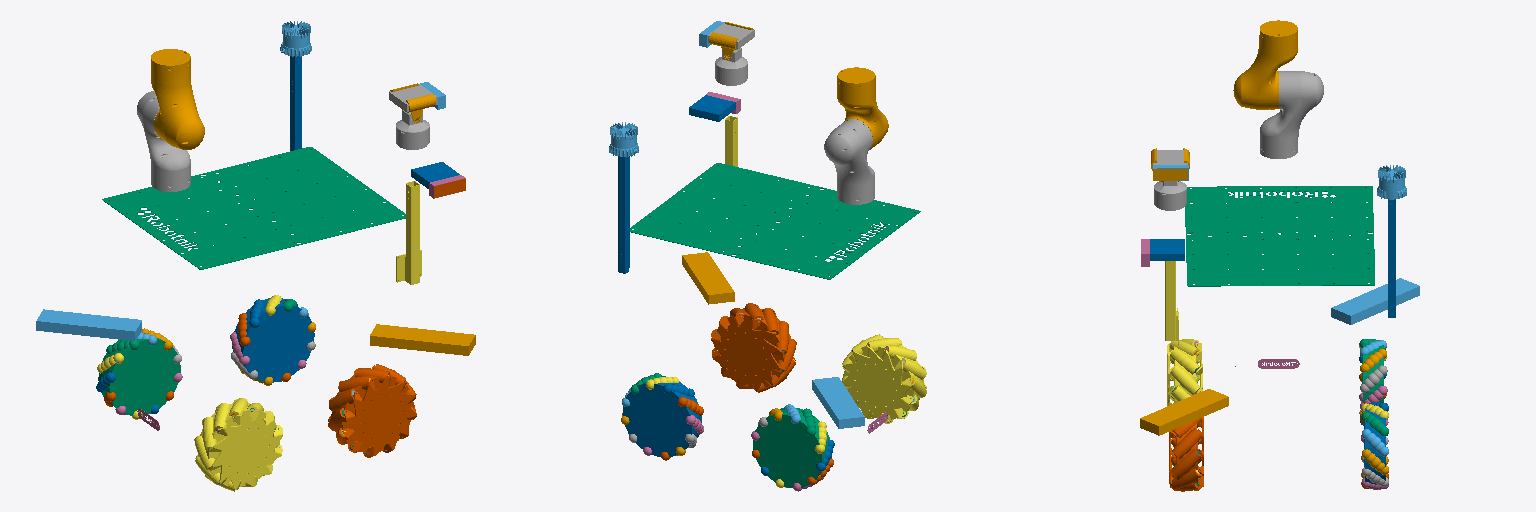
--- What the picture shows (computed from the rendered views, not written in the file) ---
The picture shows the robot from 3 angles, left to right: view 1: azimuth 30°, elevation 25°; view 2: azimuth 150°, elevation 25°; view 3: azimuth 270°, elevation 25°; orthographic projection.
Robot: rbkairos — 110 links, 109 joints (9 revolute, 52 continuous, 2 prismatic, 46 fixed); root link base_footprint; default pose: joints at zero except 1 at the middle of their limits (panda_joint4 = -1.57).
Visible links, largest first — view 1: robot_base_chapa, summit_xl_front_right_wheel_link, summit_xl_back_right_wheel_link, panda_link2, summit_xl_front_left_wheel_link, summit_xl_back_left_wheel_link, panda_link1, robot_front_laser_base_link, robot_rear_laser_base_link, robot_front_right_pole_link, robot_front_left_pole_sup_link, robot_pantilt_pan_link (+4 smaller); view 2: robot_base_chapa, summit_xl_front_right_wheel_link, summit_xl_back_right_wheel_link, summit_xl_back_left_wheel_link, summit_xl_front_left_wheel_link, panda_link1, panda_link2, robot_rear_laser_base_link, robot_front_laser_base_link, robot_front_left_pole_sup_link, robot_pantilt_pan_link, rbkairos_os1_mesh (+2 smaller); view 3: robot_base_chapa, panda_link2, panda_link1, summit_xl_front_right_wheel_link, robot_front_laser_base_link, summit_xl_back_right_wheel_link, robot_rear_laser_base_link, robot_front_right_pole_link, robot_front_left_pole_sup_link, robot_pantilt_pan_link, rbkairos_os1_mesh, robot_top_right_rgbd_camera_1_camera_body.
Link boxes in pixels (x1=…): robot_base_chapa: x1=102, y1=147, x2=405, y2=269; summit_xl_front_right_wheel_link: x1=328, y1=364, x2=416, y2=457; summit_xl_back_right_wheel_link: x1=194, y1=398, x2=282, y2=491; panda_link2: x1=151, y1=49, x2=204, y2=149; summit_xl_front_left_wheel_link: x1=232, y1=298, x2=314, y2=382; summit_xl_back_left_wheel_link: x1=98, y1=333, x2=180, y2=415; panda_link1: x1=137, y1=91, x2=190, y2=191; robot_front_laser_base_link: x1=370, y1=324, x2=475, y2=355; robot_rear_laser_base_link: x1=36, y1=309, x2=141, y2=340; robot_front_right_pole_link: x1=396, y1=181, x2=421, y2=284; robot_front_left_pole_sup_link: x1=290, y1=56, x2=301, y2=150; robot_pantilt_pan_link: x1=396, y1=110, x2=429, y2=149; robot_base_chapa: x1=630, y1=163, x2=920, y2=279; summit_xl_front_right_wheel_link: x1=711, y1=303, x2=796, y2=392; summit_xl_back_right_wheel_link: x1=842, y1=334, x2=926, y2=423; summit_xl_back_left_wheel_link: x1=753, y1=407, x2=831, y2=487; summit_xl_front_left_wheel_link: x1=623, y1=376, x2=701, y2=456; panda_link1: x1=824, y1=119, x2=874, y2=204; panda_link2: x1=837, y1=67, x2=888, y2=149; robot_rear_laser_base_link: x1=812, y1=377, x2=864, y2=428; robot_front_laser_base_link: x1=682, y1=252, x2=734, y2=304; robot_front_left_pole_sup_link: x1=618, y1=156, x2=629, y2=273; robot_pantilt_pan_link: x1=715, y1=48, x2=747, y2=85; rbkairos_os1_mesh: x1=609, y1=122, x2=638, y2=156; robot_base_chapa: x1=1185, y1=186, x2=1374, y2=286; panda_link2: x1=1233, y1=20, x2=1297, y2=109; panda_link1: x1=1260, y1=71, x2=1323, y2=158; summit_xl_front_right_wheel_link: x1=1169, y1=417, x2=1203, y2=491; robot_front_laser_base_link: x1=1140, y1=389, x2=1228, y2=435; summit_xl_back_right_wheel_link: x1=1167, y1=339, x2=1202, y2=405; robot_rear_laser_base_link: x1=1331, y1=278, x2=1419, y2=324; robot_front_right_pole_link: x1=1165, y1=261, x2=1178, y2=344; robot_front_left_pole_sup_link: x1=1388, y1=199, x2=1395, y2=317; robot_pantilt_pan_link: x1=1154, y1=181, x2=1186, y2=210; rbkairos_os1_mesh: x1=1377, y1=165, x2=1406, y2=199; robot_top_right_rgbd_camera_1_camera_body: x1=1150, y1=239, x2=1184, y2=260.
Bounding box of the posed robot: 1.01 × 0.8007 × 1.22 m (x, y, z).
11 mesh visuals loaded from 62 distinct referenced files (11 OBJ); not drawn: 51 (reference not matched to a file when rendering).

URDF robot description (rbkairos):
<?xml version="1.0" encoding="UTF-8"?>
<robot name="rbkairos">
  <joint name="back_left_roller10_joint" type="continuous">
    <origin xyz="0. -0. -0.107" rpy="0.7853982 -1.5707963 0. "/>
    <parent link="summit_xl_back_left_wheel_link"/>
    <child link="back_left_roller10_link"/>
    <axis xyz="0. 0. 1."/>
  </joint>
  <joint name="back_left_roller11_joint" type="continuous">
    <origin xyz="0.0535 -0. -0.0926647" rpy="-0.0439603 1.2045692 0.8038372"/>
    <parent link="summit_xl_back_left_wheel_link"/>
    <child link="back_left_roller11_link"/>
    <axis xyz="0. 0. 1."/>
  </joint>
  <joint name="back_left_roller12_joint" type="continuous">
    <origin xyz="0.0926647 -0. -0.0535 " rpy="-0.5359965 0.7778994 0.3978639"/>
    <parent link="summit_xl_back_left_wheel_link"/>
    <child link="back_left_roller12_link"/>
    <axis xyz="0. 0. 1."/>
  </joint>
  <joint name="back_left_roller1_joint" type="continuous">
    <origin xyz="0.107 -0. 0. " rpy="-0.7853984 0. 0. "/>
    <parent link="summit_xl_back_left_wheel_link"/>
    <child link="back_left_roller1_link"/>
    <axis xyz="0. 0. 1."/>
  </joint>
  <joint name="back_left_roller2_joint" type="continuous">
    <origin xyz="0.0926647 -0. 0.0535 " rpy="-0.5359965 -0.7778994 -0.3978639"/>
    <parent link="summit_xl_back_left_wheel_link"/>
    <child link="back_left_roller2_link"/>
    <axis xyz="0. 0. 1."/>
  </joint>
  <joint name="back_left_roller3_joint" type="continuous">
    <origin xyz="0.0535 -0. 0.0926647" rpy="-0.0439603 -1.2045692 -0.8038372"/>
    <parent link="summit_xl_back_left_wheel_link"/>
    <child link="back_left_roller3_link"/>
    <axis xyz="0. 0. 1."/>
  </joint>
  <joint name="back_left_roller4_joint" type="continuous">
    <origin xyz="0. -0. 0.107" rpy="-0.7853982 -1.5707963 0. "/>
    <parent link="summit_xl_back_left_wheel_link"/>
    <child link="back_left_roller4_link"/>
    <axis xyz="0. 0. 1."/>
  </joint>
  <joint name="back_left_roller5_joint" type="continuous">
    <origin xyz="-0.0535 -0. 0.0926647" rpy="0.0275167 1.1863147 -0.8346186"/>
    <parent link="summit_xl_back_left_wheel_link"/>
    <child link="back_left_roller5_link"/>
    <axis xyz="0. 0. 1."/>
  </joint>
  <joint name="back_left_roller6_joint" type="continuous">
    <origin xyz="-0.0926647 -0. 0.0535 " rpy="0.5052382 0.7423047 -0.4450063"/>
    <parent link="summit_xl_back_left_wheel_link"/>
    <child link="back_left_roller6_link"/>
    <axis xyz="0. 0. 1."/>
  </joint>
  <joint name="back_left_roller7_joint" type="continuous">
    <origin xyz="-0.107 -0. 0. " rpy="0.7853984 0. 0. "/>
    <parent link="summit_xl_back_left_wheel_link"/>
    <child link="back_left_roller7_link"/>
    <axis xyz="0. 0. 1."/>
  </joint>
  <joint name="back_left_roller8_joint" type="continuous">
    <origin xyz="-0.0926647 -0. -0.0535 " rpy="0.523674 -0.7990885 0.3802593"/>
    <parent link="summit_xl_back_left_wheel_link"/>
    <child link="back_left_roller8_link"/>
    <axis xyz="0. 0. 1."/>
  </joint>
  <joint name="back_left_roller9_joint" type="continuous">
    <origin xyz="-0.0535 -0. -0.0926647" rpy="0.0789182 -1.2169379 0.7711197"/>
    <parent link="summit_xl_back_left_wheel_link"/>
    <child link="back_left_roller9_link"/>
    <axis xyz="0. 0. 1."/>
  </joint>
  <joint name="back_right_roller10_joint" type="continuous">
    <origin xyz="0. 0. -0.107" rpy="-0.7853982 -1.5707963 0. "/>
    <parent link="summit_xl_back_right_wheel_link"/>
    <child link="back_right_roller10_link"/>
    <axis xyz="0. 0. 1."/>
  </joint>
  <joint name="back_right_roller11_joint" type="continuous">
    <origin xyz="0.0535 0. -0.0926647" rpy="0.0112194 1.1918175 -0.8343325"/>
    <parent link="summit_xl_back_right_wheel_link"/>
    <child link="back_right_roller11_link"/>
    <axis xyz="0. 0. 1."/>
  </joint>
  <joint name="back_right_roller12_joint" type="continuous">
    <origin xyz="0.0926647 0. -0.0535 " rpy="0.5422567 0.7673631 -0.4066663"/>
    <parent link="summit_xl_back_right_wheel_link"/>
    <child link="back_right_roller12_link"/>
    <axis xyz="0. 0. 1."/>
  </joint>
  <joint name="back_right_roller1_joint" type="continuous">
    <origin xyz="0.107 0. 0. " rpy="0.7853984 0. 0. "/>
    <parent link="summit_xl_back_right_wheel_link"/>
    <child link="back_right_roller1_link"/>
    <axis xyz="0. 0. 1."/>
  </joint>
  <joint name="back_right_roller2_joint" type="continuous">
    <origin xyz="0.0926647 0. 0.0535 " rpy="0.5422567 -0.7673631 0.4066663"/>
    <parent link="summit_xl_back_right_wheel_link"/>
    <child link="back_right_roller2_link"/>
    <axis xyz="0. 0. 1."/>
  </joint>
  <joint name="back_right_roller3_joint" type="continuous">
    <origin xyz="0.0535 0. 0.0926647" rpy="0.0789182 -1.2169379 0.7711197"/>
    <parent link="summit_xl_back_right_wheel_link"/>
    <child link="back_right_roller3_link"/>
    <axis xyz="0. 0. 1."/>
  </joint>
  <joint name="back_right_roller4_joint" type="continuous">
    <origin xyz="0. 0. 0.107" rpy="0.7853982 -1.5707963 0. "/>
    <parent link="summit_xl_back_right_wheel_link"/>
    <child link="back_right_roller4_link"/>
    <axis xyz="0. 0. 1."/>
  </joint>
  <joint name="back_right_roller5_joint" type="continuous">
    <origin xyz="-0.0535 0. 0.0926647" rpy="0.0027539 1.1732169 0.8626051"/>
    <parent link="summit_xl_back_right_wheel_link"/>
    <child link="back_right_roller5_link"/>
    <axis xyz="0. 0. 1."/>
  </joint>
  <joint name="back_right_roller6_joint" type="continuous">
    <origin xyz="-0.0926647 0. 0.0535 " rpy="-0.5422567 0.7673631 0.4066663"/>
    <parent link="summit_xl_back_right_wheel_link"/>
    <child link="back_right_roller6_link"/>
    <axis xyz="0. 0. 1."/>
  </joint>
  <joint name="back_right_roller7_joint" type="continuous">
    <origin xyz="-0.107 0. 0. " rpy="-0.7853984 0. 0. "/>
    <parent link="summit_xl_back_right_wheel_link"/>
    <child link="back_right_roller7_link"/>
    <axis xyz="0. 0. 1."/>
  </joint>
  <joint name="back_right_roller8_joint" type="continuous">
    <origin xyz="-0.0926647 0. -0.0535 " rpy="-0.5422567 -0.7673631 -0.4066663"/>
    <parent link="summit_xl_back_right_wheel_link"/>
    <child link="back_right_roller8_link"/>
    <axis xyz="0. 0. 1."/>
  </joint>
  <joint name="back_right_roller9_joint" type="continuous">
    <origin xyz="-0.0535 0. -0.0926647" rpy="-0.0439603 -1.2045692 -0.8038372"/>
    <parent link="summit_xl_back_right_wheel_link"/>
    <child link="back_right_roller9_link"/>
    <axis xyz="0. 0. 1."/>
  </joint>
  <joint name="front_left_roller10_joint" type="continuous">
    <origin xyz="-0. -0. -0.107" rpy="-0.7853982 -1.5707963 0. "/>
    <parent link="summit_xl_front_left_wheel_link"/>
    <child link="front_left_roller10_link"/>
    <axis xyz="0. 0. 1."/>
  </joint>
  <joint name="front_left_roller11_joint" type="continuous">
    <origin xyz="0.0535 -0. -0.0926647" rpy="0.0597851 1.1990727 -0.8046284"/>
    <parent link="summit_xl_front_left_wheel_link"/>
    <child link="front_left_roller11_link"/>
    <axis xyz="0. 0. 1."/>
  </joint>
  <joint name="front_left_roller12_joint" type="continuous">
    <origin xyz="0.0926647 -0. -0.0535 " rpy="0.5201338 0.7603366 -0.4219694"/>
    <parent link="summit_xl_front_left_wheel_link"/>
    <child link="front_left_roller12_link"/>
    <axis xyz="0. 0. 1."/>
  </joint>
  <joint name="front_left_roller1_joint" type="continuous">
    <origin xyz="0.107 -0. 0. " rpy="0.7853984 0. 0. "/>
    <parent link="summit_xl_front_left_wheel_link"/>
    <child link="front_left_roller1_link"/>
    <axis xyz="0. 0. 1."/>
  </joint>
  <joint name="front_left_roller2_joint" type="continuous">
    <origin xyz="0.0926647 -0. 0.0535 " rpy="0.5359965 -0.7778994 0.3978639"/>
    <parent link="summit_xl_front_left_wheel_link"/>
    <child link="front_left_roller2_link"/>
    <axis xyz="0. 0. 1."/>
  </joint>
  <joint name="front_left_roller3_joint" type="continuous">
    <origin xyz="0.0535 -0. 0.0926647" rpy="0.0439603 -1.2045692 0.8038372"/>
    <parent link="summit_xl_front_left_wheel_link"/>
    <child link="front_left_roller3_link"/>
    <axis xyz="0. 0. 1."/>
  </joint>
  <joint name="front_left_roller4_joint" type="continuous">
    <origin xyz="-0. -0. 0.107" rpy="0.7853982 -1.5707963 0. "/>
    <parent link="summit_xl_front_left_wheel_link"/>
    <child link="front_left_roller4_link"/>
    <axis xyz="0. 0. 1."/>
  </joint>
  <joint name="front_left_roller5_joint" type="continuous">
    <origin xyz="-0.0535 -0. 0.0926647" rpy="-0.0439603 1.2045692 0.8038372"/>
    <parent link="summit_xl_front_left_wheel_link"/>
    <child link="front_left_roller5_link"/>
    <axis xyz="0. 0. 1."/>
  </joint>
  <joint name="front_left_roller6_joint" type="continuous">
    <origin xyz="-0.0926647 -0. 0.0535 " rpy="-0.5359965 0.7778994 0.3978639"/>
    <parent link="summit_xl_front_left_wheel_link"/>
    <child link="front_left_roller6_link"/>
    <axis xyz="0. 0. 1."/>
  </joint>
  <joint name="front_left_roller7_joint" type="continuous">
    <origin xyz="-0.107 -0. 0. " rpy="-0.7853984 0. 0. "/>
    <parent link="summit_xl_front_left_wheel_link"/>
    <child link="front_left_roller7_link"/>
    <axis xyz="0. 0. 1."/>
  </joint>
  <joint name="front_left_roller8_joint" type="continuous">
    <origin xyz="-0.0926647 -0. -0.0535 " rpy="-0.5359965 -0.7778994 -0.3978639"/>
    <parent link="summit_xl_front_left_wheel_link"/>
    <child link="front_left_roller8_link"/>
    <axis xyz="0. 0. 1."/>
  </joint>
  <joint name="front_left_roller9_joint" type="continuous">
    <origin xyz="-0.0535 -0. -0.0926647" rpy="-0.0439603 -1.2045692 -0.8038372"/>
    <parent link="summit_xl_front_left_wheel_link"/>
    <child link="front_left_roller9_link"/>
    <axis xyz="0. 0. 1."/>
  </joint>
  <joint name="front_right_roller10_joint" type="continuous">
    <origin xyz="-0. 0. -0.107" rpy="0.7853982 -1.5707963 0. "/>
    <parent link="summit_xl_front_right_wheel_link"/>
    <child link="front_right_roller10_link"/>
    <axis xyz="0. 0. 1."/>
  </joint>
  <joint name="front_right_roller11_joint" type="continuous">
    <origin xyz="0.0535 0. -0.0926647" rpy="-0.0597851 1.1990727 0.8046284"/>
    <parent link="summit_xl_front_right_wheel_link"/>
    <child link="front_right_roller11_link"/>
    <axis xyz="0. 0. 1."/>
  </joint>
  <joint name="front_right_roller12_joint" type="continuous">
    <origin xyz="0.0926647 0. -0.0535 " rpy="-0.5359965 0.7778994 0.3978639"/>
    <parent link="summit_xl_front_right_wheel_link"/>
    <child link="front_right_roller12_link"/>
    <axis xyz="0. 0. 1."/>
  </joint>
  <joint name="front_right_roller1_joint" type="continuous">
    <origin xyz="0.107 0. 0. " rpy="-0.7853984 0. 0. "/>
    <parent link="summit_xl_front_right_wheel_link"/>
    <child link="front_right_roller1_link"/>
    <axis xyz="0. 0. 1."/>
  </joint>
  <joint name="front_right_roller2_joint" type="continuous">
    <origin xyz="0.0926647 0. 0.0535 " rpy="-0.5359965 -0.7778994 -0.3978639"/>
    <parent link="summit_xl_front_right_wheel_link"/>
    <child link="front_right_roller2_link"/>
    <axis xyz="0. 0. 1."/>
  </joint>
  <joint name="front_right_roller3_joint" type="continuous">
    <origin xyz="0.0535 0. 0.0926647" rpy="-0.0439603 -1.2045692 -0.8038372"/>
    <parent link="summit_xl_front_right_wheel_link"/>
    <child link="front_right_roller3_link"/>
    <axis xyz="0. 0. 1."/>
  </joint>
  <joint name="front_right_roller4_joint" type="continuous">
    <origin xyz="-0. 0. 0.107" rpy="-0.7853982 -1.5707963 0. "/>
    <parent link="summit_xl_front_right_wheel_link"/>
    <child link="front_right_roller4_link"/>
    <axis xyz="0. 0. 1."/>
  </joint>
  <joint name="front_right_roller5_joint" type="continuous">
    <origin xyz="-0.0535 0. 0.0926647" rpy="0.0439603 1.2045692 -0.8038372"/>
    <parent link="summit_xl_front_right_wheel_link"/>
    <child link="front_right_roller5_link"/>
    <axis xyz="0. 0. 1."/>
  </joint>
  <joint name="front_right_roller6_joint" type="continuous">
    <origin xyz="-0.0926647 0. 0.0535 " rpy="0.5359965 0.7778994 -0.3978639"/>
    <parent link="summit_xl_front_right_wheel_link"/>
    <child link="front_right_roller6_link"/>
    <axis xyz="0. 0. 1."/>
  </joint>
  <joint name="front_right_roller7_joint" type="continuous">
    <origin xyz="-0.107 0. 0. " rpy="0.7853984 0. 0. "/>
    <parent link="summit_xl_front_right_wheel_link"/>
    <child link="front_right_roller7_link"/>
    <axis xyz="0. 0. 1."/>
  </joint>
  <joint name="front_right_roller8_joint" type="continuous">
    <origin xyz="-0.0926647 0. -0.0535 " rpy="0.5359965 -0.7778994 0.3978639"/>
    <parent link="summit_xl_front_right_wheel_link"/>
    <child link="front_right_roller8_link"/>
    <axis xyz="0. 0. 1."/>
  </joint>
  <joint name="front_right_roller9_joint" type="continuous">
    <origin xyz="-0.0535 0. -0.0926647" rpy="0.0439603 -1.2045692 0.8038372"/>
    <parent link="summit_xl_front_right_wheel_link"/>
    <child link="front_right_roller9_link"/>
    <axis xyz="0. 0. 1."/>
  </joint>
  <joint name="joint_franka_panda_hand-Hand_Camera" type="fixed">
    <origin xyz="0.05 0. 0.0499999" rpy="-3.1415927 0. 1.5707964"/>
    <parent link="franka_panda_hand"/>
    <child link="Hand_Camera"/>
  </joint>
  <joint name="joint_rbkairos_os1_mesh-OS1" type="fixed">
    <origin xyz="0. 0. 0." rpy="0. 0. 0."/>
    <parent link="rbkairos_os1_mesh"/>
    <child link="OS1"/>
  </joint>
  <joint name="joint_robot_front_rgbd_camera_link-Main_Camera" type="fixed">
    <origin xyz="0.015 -0.0175 0. " rpy="1.5707964 0. -1.5707964"/>
    <parent link="robot_front_rgbd_camera_link"/>
    <child link="Main_Camera"/>
  </joint>
  <joint name="os1_joint" type="fixed">
    <origin xyz="0.0000034 0. 0.4133 " rpy="0. 0. 0.0031644"/>
    <parent link="robot_front_left_pole_sup_link"/>
    <child link="rbkairos_os1_mesh"/>
  </joint>
  <joint name="panda_finger_joint1" type="prismatic">
    <origin xyz="0. 0. 0.0584" rpy="0. 0. 1.5707964"/>
    <parent link="franka_panda_hand"/>
    <child link="panda_leftfinger"/>
    <axis xyz="1. 0. 0."/>
    <limit lower="0." upper="0.04" effort="720." velocity="10."/>
  </joint>
  <joint name="panda_finger_joint2" type="prismatic">
    <origin xyz="0. 0. 0.0584" rpy="0. 0. -1.5707963"/>
    <parent link="franka_panda_hand"/>
    <child link="panda_rightfinger"/>
    <axis xyz="1. 0. 0."/>
    <limit lower="0." upper="0.04" effort="720." velocity="10."/>
  </joint>
  <joint name="panda_hand_joint" type="fixed">
    <origin xyz="0. 0. 0." rpy="1.5707964 -0.7853981 -1.5707964"/>
    <parent link="panda_link8"/>
    <child link="franka_panda_hand"/>
  </joint>
  <joint name="panda_joint1" type="revolute">
    <origin xyz="-0. -0. 0.3329999" rpy="0. -1.5707961 0.0015925"/>
    <parent link="panda_link0"/>
    <child link="panda_link1"/>
    <axis xyz="1. 0. 0."/>
    <limit lower="-2.8973001" upper="2.8973001" effort="5220." velocity="10.0000005"/>
  </joint>
  <joint name="panda_joint2" type="revolute">
    <origin xyz="-0. -0. -0." rpy="-0.0000002 0. 1.5707964"/>
    <parent link="panda_link1"/>
    <child link="panda_link2"/>
    <axis xyz="1. 0. 0."/>
    <limit lower="-1.7628" upper="1.7628" effort="5220." velocity="10.0000005"/>
  </joint>
  <joint name="panda_joint3" type="revolute">
    <origin xyz="0.0000001 -0.316 0. " rpy="0. -0. -1.570796"/>
    <parent link="panda_link2"/>
    <child link="panda_link3"/>
    <axis xyz="1. 0. 0."/>
    <limit lower="-2.8973001" upper="2.8973001" effort="5220." velocity="10.0000005"/>
  </joint>
  <joint name="panda_joint4" type="revolute">
    <origin xyz="0. 0. -0.0825" rpy="0. 0. -1.5707964"/>
    <parent link="panda_link3"/>
    <child link="panda_link4"/>
    <axis xyz="1. 0. 0."/>
    <limit lower="-3.0718" upper="-0.0698" effort="5220." velocity="10.0000005"/>
  </joint>
  <joint name="panda_joint5" type="revolute">
    <origin xyz="0. 0.3839999 0.0824999" rpy="0. 0. 1.5707964"/>
    <parent link="panda_link4"/>
    <child link="panda_link5"/>
    <axis xyz="1. 0. 0."/>
    <limit lower="-2.8973001" upper="2.8973001" effort="720." velocity="10.0000005"/>
  </joint>
  <joint name="panda_joint6" type="revolute">
    <origin xyz="0. 0. 0." rpy="0. 0. -1.5707964"/>
    <parent link="panda_link5"/>
    <child link="panda_link6"/>
    <axis xyz="1. 0. 0."/>
    <limit lower="-0.0175" upper="3.7525" effort="720." velocity="10.0000005"/>
  </joint>
  <joint name="panda_joint7" type="revolute">
    <origin xyz="0. -0. -0.0879999" rpy="0. 0. -1.5707964"/>
    <parent link="panda_link6"/>
    <child link="panda_link7"/>
    <axis xyz="1. 0. 0."/>
    <limit lower="-2.8973001" upper="2.8973001" effort="720." velocity="10.0000005"/>
  </joint>
  <joint name="panda_joint8" type="fixed">
    <origin xyz="0.1069998 0. -0.0000001" rpy="3.1415925 0. -3.1415923"/>
    <parent link="panda_link7"/>
    <child link="panda_link8"/>
  </joint>
  <joint name="robot_arm_joint" type="fixed">
    <origin xyz="-0.273 0. 0.56212" rpy="0. 0. 3.14"/>
    <parent link="base_link"/>
    <child link="panda_link0"/>
  </joint>
  <joint name="robot_back_left_wheel_joint" type="continuous">
    <origin xyz="-0.21528 0.269 -0. " rpy="0. 0. 0."/>
    <parent link="base_link"/>
    <child link="summit_xl_back_left_wheel_link"/>
    <axis xyz="0. 1. 0."/>
  </joint>
  <joint name="robot_back_right_wheel_joint" type="continuous">
    <origin xyz="-0.21528 -0.269 -0. " rpy="0. 0. 0."/>
    <parent link="base_link"/>
    <child link="summit_xl_back_right_wheel_link"/>
    <axis xyz="0. 1. 0."/>
  </joint>
  <joint name="robot_base_docking_joint" type="fixed">
    <origin xyz="0.35 0. 0.09" rpy="0. 0. 0."/>
    <parent link="base_link"/>
    <child link="robot_base_docking_contact"/>
  </joint>
  <joint name="robot_base_footprint_joint" type="fixed">
    <origin xyz="0.0103077 -0.0236575 0.1250255" rpy="0.0003379 -0.0016197 0.011564 "/>
    <parent link="base_footprint"/>
    <child link="base_link"/>
  </joint>
  <joint name="robot_base_logo_front_joint" type="fixed">
    <origin xyz="0.345 0. 0. " rpy="0. 0. -1.5707964"/>
    <parent link="base_link"/>
    <child link="robot_base_logo_front"/>
  </joint>
  <joint name="robot_base_logo_left_joint" type="fixed">
    <origin xyz="0. 0.2894 0.35562" rpy="0. 0. 0."/>
    <parent link="base_link"/>
    <child link="robot_base_logo_left"/>
  </joint>
  <joint name="robot_base_logo_rear_joint" type="fixed">
    <origin xyz="-0.345 0. 0. " rpy="0. 0. 1.5707964"/>
    <parent link="base_link"/>
    <child link="robot_base_logo_rear"/>
  </joint>
  <joint name="robot_base_logo_right_joint" type="fixed">
    <origin xyz="0. -0.28931 0.35562" rpy="0. 0. -3.1415925"/>
    <parent link="base_link"/>
    <child link="robot_base_logo_right"/>
  </joint>
  <joint name="robot_base_tapa_joint" type="fixed">
    <origin xyz="0. 0. 0.56162" rpy="0. 0. 0."/>
    <parent link="base_link"/>
    <child link="robot_base_chapa"/>
  </joint>
  <joint name="robot_front_laser_base_joint" type="fixed">
    <origin xyz="0.42101 -0.32716 0.16687" rpy="-3.1415927 0.0000001 -0.7853982"/>
    <parent link="base_link"/>
    <child link="robot_front_laser_base_link"/>
  </joint>
  <joint name="robot_front_laser_body_joint" type="fixed">
    <origin xyz="0.051 0. 0. " rpy="0. 0. 0."/>
    <parent link="robot_front_laser_base_link"/>
    <child link="robot_front_laser_body_link"/>
  </joint>
  <joint name="robot_front_laser_scan_joint" type="fixed">
    <origin xyz="0. -0.0015 0.1237" rpy="-3.1415925 0. 0. "/>
    <parent link="robot_front_laser_body_link"/>
    <child link="robot_front_laser_link"/>
  </joint>
  <joint name="robot_front_left_pole_joint" type="fixed">
    <origin xyz="0.31775 0.2933 0.42762" rpy="0. 0. 3.14"/>
    <parent link="base_link"/>
    <child link="robot_front_left_pole_link"/>
  </joint>
  <joint name="robot_front_left_pole_sup_joint" type="fixed">
    <origin xyz="0. -0.023 0. " rpy="0. 0. 3.14"/>
    <parent link="robot_front_left_pole_link"/>
    <child link="robot_front_left_pole_sup_link"/>
  </joint>
  <joint name="robot_front_left_rgb_camera_1_joint" type="fixed">
    <origin xyz="0. 0.027 0.315" rpy="0. 0. 0."/>
    <parent link="robot_front_left_pole_sup_link"/>
    <child link="robot_front_left_rgb_camera_1_link"/>
  </joint>
  <joint name="robot_front_left_rgb_camera_1_optical_joint" type="fixed">
    <origin xyz="0.07 0. 0. " rpy="0. 0. 0."/>
    <parent link="robot_front_left_rgb_camera_1_link"/>
    <child link="robot_front_left_rgb_camera_1_optical_frame"/>
  </joint>
  <joint name="robot_front_left_rgb_camera_2_joint" type="fixed">
    <origin xyz="0. -0.02706 0.315 " rpy="0. 0. 3.14"/>
    <parent link="robot_front_left_pole_sup_link"/>
    <child link="robot_front_left_rgb_camera_2_link"/>
  </joint>
  <joint name="robot_front_left_rgb_camera_2_optical_joint" type="fixed">
    <origin xyz="0.07 0. 0. " rpy="0. 0. 0."/>
    <parent link="robot_front_left_rgb_camera_2_link"/>
    <child link="robot_front_left_rgb_camera_2_optical_frame"/>
  </joint>
  <joint name="robot_front_left_wheel_joint" type="continuous">
    <origin xyz="0.21528 0.269 -0. " rpy="0. 0. 0."/>
    <parent link="base_link"/>
    <child link="summit_xl_front_left_wheel_link"/>
    <axis xyz="0. 1. 0."/>
  </joint>
  <joint name="robot_front_rgbd_camera_base_joint" type="fixed">
    <origin xyz="0.3585 0. 0.25062" rpy="0. 0. 0."/>
    <parent link="base_link"/>
    <child link="robot_front_rgbd_camera_base_link"/>
  </joint>
  <joint name="robot_front_rgbd_camera_color_joint" type="fixed">
    <origin xyz="0. 0.015 0. " rpy="0. 0. 0."/>
    <parent link="robot_front_rgbd_camera_link"/>
    <child link="robot_front_rgbd_camera_color_frame"/>
  </joint>
  <joint name="robot_front_rgbd_camera_color_optical_joint" type="fixed">
    <origin xyz="0. 0. 0." rpy="-1.5707964 0. -1.5707964"/>
    <parent link="robot_front_rgbd_camera_color_frame"/>
    <child link="robot_front_rgbd_camera_color_optical_frame"/>
  </joint>
  <joint name="robot_front_rgbd_camera_depth_joint" type="fixed">
    <origin xyz="0. 0. 0." rpy="0. 0. 0."/>
    <parent link="robot_front_rgbd_camera_link"/>
    <child link="robot_front_rgbd_camera_depth_frame"/>
  </joint>
  <joint name="robot_front_rgbd_camera_depth_optical_joint" type="fixed">
    <origin xyz="0. 0. 0." rpy="-1.5707964 0. -1.5707964"/>
    <parent link="robot_front_rgbd_camera_depth_frame"/>
    <child link="robot_front_rgbd_camera_depth_optical_frame"/>
  </joint>
  <joint name="robot_front_rgbd_camera_infra1_joint" type="fixed">
    <origin xyz="0. 0. 0." rpy="0. 0. 0."/>
    <parent link="robot_front_rgbd_camera_link"/>
    <child link="robot_front_rgbd_camera_infra1_frame"/>
  </joint>
  <joint name="robot_front_rgbd_camera_infra1_optical_joint" type="fixed">
    <origin xyz="0. 0. 0." rpy="-1.5707964 0. -1.5707964"/>
    <parent link="robot_front_rgbd_camera_infra1_frame"/>
    <child link="robot_front_rgbd_camera_infra1_optical_frame"/>
  </joint>
  <joint name="robot_front_rgbd_camera_infra2_joint" type="fixed">
    <origin xyz="0. -0.05 0. " rpy="0. 0. 0."/>
    <parent link="robot_front_rgbd_camera_link"/>
    <child link="robot_front_rgbd_camera_infra2_frame"/>
  </joint>
  <joint name="robot_front_rgbd_camera_infra2_optical_joint" type="fixed">
    <origin xyz="0. 0. 0." rpy="-1.5707964 0. -1.5707964"/>
    <parent link="robot_front_rgbd_camera_infra2_frame"/>
    <child link="robot_front_rgbd_camera_infra2_optical_frame"/>
  </joint>
  <joint name="robot_front_rgbd_camera_joint" type="fixed">
    <origin xyz="0.01 0.02 0. " rpy="0. 0. 0."/>
    <parent link="robot_front_rgbd_camera_base_link"/>
    <child link="robot_front_rgbd_camera_link"/>
  </joint>
  <joint name="robot_front_right_pole_joint" type="fixed">
    <origin xyz="0.31775 -0.2933 0.42762" rpy="0. 0. 0."/>
    <parent link="base_link"/>
    <child link="robot_front_right_pole_link"/>
  </joint>
  <joint name="robot_front_right_pole_sup_joint" type="fixed">
    <origin xyz="0. -0.023 0. " rpy="0. 0. 3.14"/>
    <parent link="robot_front_right_pole_link"/>
    <child link="robot_front_right_pole_sup_link"/>
  </joint>
  <joint name="robot_front_right_wheel_joint" type="continuous">
    <origin xyz="0.21528 -0.269 -0. " rpy="0. 0. 0."/>
    <parent link="base_link"/>
    <child link="summit_xl_front_right_wheel_link"/>
    <axis xyz="0. 1. 0."/>
  </joint>
  <joint name="robot_imu_joint" type="fixed">
    <origin xyz="0.127 -0.129 0.212" rpy="0. 0. 0."/>
    <parent link="base_link"/>
    <child link="robot_imu_link"/>
  </joint>
  <joint name="robot_pantilt_base_joint" type="fixed">
    <origin xyz="0. 0. 0.3833" rpy="0. 0. 3.14159"/>
    <parent link="robot_front_right_pole_sup_link"/>
    <child link="robot_pantilt_base_link"/>
  </joint>
  <joint name="robot_pantilt_pan_joint" type="revolute">
    <origin xyz="0. 0. 0." rpy="0. 0. 0."/>
    <parent link="robot_pantilt_base_link"/>
    <child link="robot_pantilt_pan_link"/>
    <axis xyz="0. 0. 1."/>
    <limit lower="-3.1415927" upper="3.1415927" effort="100." velocity="50.0000015"/>
  </joint>
  <joint name="robot_pantilt_tilt_joint" type="revolute">
    <origin xyz="0. 0. 0.08305" rpy="0. 0. 0."/>
    <parent link="robot_pantilt_pan_link"/>
    <child link="robot_pantilt_tilt_link"/>
    <axis xyz="0. 1. 0."/>
    <limit lower="-1.0471976" upper="1.0471976" effort="100." velocity="5.0000003"/>
  </joint>
  <joint name="robot_rear_laser_base_joint" type="fixed">
    <origin xyz="-0.42101 0.32716 0.16687" rpy="-3.1415927 0.0000001 2.3561945"/>
    <parent link="base_link"/>
    <child link="robot_rear_laser_base_link"/>
  </joint>
  <joint name="robot_rear_laser_body_joint" type="fixed">
    <origin xyz="0.051 0. 0. " rpy="0. 0. 0."/>
    <parent link="robot_rear_laser_base_link"/>
    <child link="robot_rear_laser_body_link"/>
  </joint>
  <joint name="robot_rear_laser_scan_joint" type="fixed">
    <origin xyz="0. -0.0015 0.1237" rpy="-3.1415925 0. 0. "/>
    <parent link="robot_rear_laser_body_link"/>
    <child link="robot_rear_laser_link"/>
  </joint>
  <joint name="robot_top_right_rgbd_camera_1_camera_base_to_body" type="fixed">
    <origin xyz="-0.0757 0. 0.008 " rpy="0. 0. 0."/>
    <parent link="robot_top_right_rgbd_camera_1_link"/>
    <child link="robot_top_right_rgbd_camera_1_camera_body"/>
  </joint>
  <joint name="robot_top_right_rgbd_camera_1_camera_base_to_visor" type="fixed">
    <origin xyz="0. 0. 0." rpy="0. 0. 0."/>
    <parent link="robot_top_right_rgbd_camera_1_link"/>
    <child link="robot_top_right_rgbd_camera_1_camera_visor"/>
  </joint>
  <joint name="robot_top_right_rgbd_camera_1_joint" type="fixed">
    <origin xyz="-0.069 0.085 0.264" rpy="0. 0. 1.57"/>
    <parent link="robot_front_right_pole_sup_link"/>
    <child link="robot_top_right_rgbd_camera_1_link"/>
  </joint>
  <joint name="robot_top_right_rgbd_camera_2_camera_base_to_body" type="fixed">
    <origin xyz="-0.0757 0. 0.008 " rpy="0. 0. 0."/>
    <parent link="robot_top_right_rgbd_camera_2_link"/>
    <child link="robot_top_right_rgbd_camera_2_camera_body"/>
  </joint>
  <joint name="robot_top_right_rgbd_camera_2_camera_base_to_visor" type="fixed">
    <origin xyz="0. 0. 0." rpy="0. 0. 0."/>
    <parent link="robot_top_right_rgbd_camera_2_link"/>
    <child link="robot_top_right_rgbd_camera_2_camera_visor"/>
  </joint>
  <joint name="robot_top_right_rgbd_camera_2_joint" type="fixed">
    <origin xyz="0.0775 0. 0.0475" rpy="0. 0. 0."/>
    <parent link="robot_pantilt_tilt_link"/>
    <child link="robot_top_right_rgbd_camera_2_link"/>
  </joint>
  <link name="Hand_Camera"/>
  <link name="Main_Camera"/>
  <link name="OS1"/>
  <link name="back_left_roller10_link">
    <inertial>
      <origin xyz="0. 0. 0." rpy="0. 0. 0."/>
      <mass value="0.0141372"/>
      <inertia ixx="0." ixy="0." ixz="0." iyy="0." iyz="0." izz="0."/>
    </inertial>
    <visual>
      <origin xyz="-0.00051 0. -0.035 " rpy="0. 0. 0."/>
      <geometry>
        <sphere radius="0.015"/>
      </geometry>
    </visual>
    <visual>
      <origin xyz="-0.00051 0. 0.035 " rpy="0. 0. 0."/>
      <geometry>
        <sphere radius="0.015"/>
      </geometry>
    </visual>
    <visual>
      <origin xyz="0. 0. 0." rpy="0. 0. 0."/>
      <geometry>
        <sphere radius="0.019"/>
      </geometry>
    </visual>
    <visual>
      <origin xyz="0. 0. 0.0175" rpy="0. 0. 0."/>
      <geometry>
        <sphere radius="0.017"/>
      </geometry>
    </visual>
    <visual>
      <origin xyz="0. 0. -0.0175" rpy="0. 0. 0."/>
      <geometry>
        <sphere radius="0.017"/>
      </geometry>
    </visual>
    <collision>
      <origin xyz="-0.00051 0. -0.035 " rpy="0. 0. 0."/>
      <geometry>
        <sphere radius="0.015"/>
      </geometry>
    </collision>
    <collision>
      <origin xyz="-0.00051 0. 0.035 " rpy="0. 0. 0."/>
      <geometry>
        <sphere radius="0.015"/>
      </geometry>
    </collision>
    <collision>
      <origin xyz="0. 0. 0." rpy="0. 0. 0."/>
      <geometry>
        <sphere radius="0.019"/>
      </geometry>
    </collision>
    <collision>
      <origin xyz="0. 0. 0.0175" rpy="0. 0. 0."/>
      <geometry>
        <sphere radius="0.017"/>
      </geometry>
    </collision>
    <collision>
      <origin xyz="0. 0. -0.0175" rpy="0. 0. 0."/>
      <geometry>
        <sphere radius="0.017"/>
      </geometry>
    </collision>
  </link>
  <link name="back_left_roller11_link">
    <inertial>
      <origin xyz="0. 0. 0." rpy="0. 0. 0."/>
      <mass value="0.0141372"/>
      <inertia ixx="0." ixy="0." ixz="0." iyy="0." iyz="0." izz="0."/>
    </inertial>
    <visual>
      <origin xyz="-0.00051 0. -0.035 " rpy="0. 0. 0."/>
      <geometry>
        <sphere radius="0.015"/>
      </geometry>
    </visual>
    <visual>
      <origin xyz="-0.00051 0. 0.035 " rpy="0. 0. 0."/>
      <geometry>
        <sphere radius="0.015"/>
      </geometry>
    </visual>
    <visual>
      <origin xyz="0. 0. 0." rpy="0. 0. 0."/>
      <geometry>
        <sphere radius="0.019"/>
      </geometry>
    </visual>
    <visual>
      <origin xyz="0. 0. 0.0175" rpy="0. 0. 0."/>
      <geometry>
        <sphere radius="0.017"/>
      </geometry>
    </visual>
    <visual>
      <origin xyz="0. 0. -0.0175" rpy="0. 0. 0."/>
      <geometry>
        <sphere radius="0.017"/>
      </geometry>
    </visual>
    <collision>
      <origin xyz="-0.00051 0. -0.035 " rpy="0. 0. 0."/>
      <geometry>
        <sphere radius="0.015"/>
      </geometry>
    </collision>
    <collision>
      <origin xyz="-0.00051 0. 0.035 " rpy="0. 0. 0."/>
      <geometry>
        <sphere radius="0.015"/>
      </geometry>
    </collision>
    <collision>
      <origin xyz="0. 0. 0." rpy="0. 0. 0."/>
      <geometry>
        <sphere radius="0.019"/>
      </geometry>
    </collision>
    <collision>
      <origin xyz="0. 0. 0.0175" rpy="0. 0. 0."/>
      <geometry>
        <sphere radius="0.017"/>
      </geometry>
    </collision>
    <collision>
      <origin xyz="0. 0. -0.0175" rpy="0. 0. 0."/>
      <geometry>
        <sphere radius="0.017"/>
      </geometry>
    </collision>
  </link>
  <link name="back_left_roller12_link">
    <inertial>
      <origin xyz="0. 0. 0." rpy="0. 0. 0."/>
      <mass value="0.0141372"/>
      <inertia ixx="0." ixy="0." ixz="0." iyy="0." iyz="0." izz="0."/>
    </inertial>
    <visual>
      <origin xyz="-0.00051 0. -0.035 " rpy="0. 0. 0."/>
      <geometry>
        <sphere radius="0.015"/>
      </geometry>
    </visual>
    <visual>
      <origin xyz="-0.00051 0. 0.035 " rpy="0. 0. 0."/>
      <geometry>
        <sphere radius="0.015"/>
      </geometry>
    </visual>
    <visual>
      <origin xyz="0. 0. 0." rpy="0. 0. 0."/>
      <geometry>
        <sphere radius="0.019"/>
      </geometry>
    </visual>
    <visual>
      <origin xyz="0. 0. 0.0175" rpy="0. 0. 0."/>
      <geometry>
        <sphere radius="0.017"/>
      </geometry>
    </visual>
    <visual>
      <origin xyz="0. 0. -0.0175" rpy="0. 0. 0."/>
      <geometry>
        <sphere radius="0.017"/>
      </geometry>
    </visual>
    <collision>
      <origin xyz="-0.00051 0. -0.035 " rpy="0. 0. 0."/>
      <geometry>
        <sphere radius="0.015"/>
      </geometry>
    </collision>
    <collision>
      <origin xyz="-0.00051 0. 0.035 " rpy="0. 0. 0."/>
      <geometry>
        <sphere radius="0.015"/>
      </geometry>
    </collision>
    <collision>
      <origin xyz="0. 0. 0." rpy="0. 0. 0."/>
      <geometry>
        <sphere radius="0.019"/>
      </geometry>
    </collision>
    <collision>
      <origin xyz="0. 0. 0.0175" rpy="0. 0. 0."/>
      <geometry>
        <sphere radius="0.017"/>
      </geometry>
    </collision>
    <collision>
      <origin xyz="0. 0. -0.0175" rpy="0. 0. 0."/>
      <geometry>
        <sphere radius="0.017"/>
      </geometry>
    </collision>
  </link>
  <link name="back_left_roller1_link">
    <inertial>
      <origin xyz="0. 0. 0." rpy="0. 0. 0."/>
      <mass value="0.0141372"/>
      <inertia ixx="0." ixy="0." ixz="0." iyy="0." iyz="0." izz="0."/>
    </inertial>
    <visual>
      <origin xyz="-0.00051 0. -0.035 " rpy="0. 0. 0."/>
      <geometry>
        <sphere radius="0.015"/>
      </geometry>
    </visual>
    <visual>
      <origin xyz="-0.00051 0. 0.035 " rpy="0. 0. 0."/>
      <geometry>
        <sphere radius="0.015"/>
      </geometry>
    </visual>
    <visual>
      <origin xyz="0. 0. 0." rpy="0. 0. 0."/>
      <geometry>
        <sphere radius="0.019"/>
      </geometry>
    </visual>
    <visual>
      <origin xyz="0. 0. 0.0175" rpy="0. 0. 0."/>
      <geometry>
        <sphere radius="0.017"/>
      </geometry>
    </visual>
    <visual>
      <origin xyz="0. 0. -0.0175" rpy="0. 0. 0."/>
      <geometry>
        <sphere radius="0.017"/>
      </geometry>
    </visual>
    <collision>
      <origin xyz="-0.00051 0. -0.035 " rpy="0. 0. 0."/>
      <geometry>
        <sphere radius="0.015"/>
      </geometry>
    </collision>
    <collision>
      <origin xyz="-0.00051 0. 0.035 " rpy="0. 0. 0."/>
      <geometry>
        <sphere radius="0.015"/>
      </geometry>
    </collision>
    <collision>
      <origin xyz="0. 0. 0." rpy="0. 0. 0."/>
      <geometry>
        <sphere radius="0.019"/>
      </geometry>
    </collision>
    <collision>
      <origin xyz="0. 0. 0.0175" rpy="0. 0. 0."/>
      <geometry>
        <sphere radius="0.017"/>
      </geometry>
    </collision>
    <collision>
      <origin xyz="0. 0. -0.0175" rpy="0. 0. 0."/>
      <geometry>
        <sphere radius="0.017"/>
      </geometry>
    </collision>
  </link>
  <link name="back_left_roller2_link">
    <inertial>
      <origin xyz="0. 0. 0." rpy="0. 0. 0."/>
      <mass value="0.0141372"/>
      <inertia ixx="0." ixy="0." ixz="0." iyy="0." iyz="0." izz="0."/>
    </inertial>
    <visual>
      <origin xyz="-0.00051 0. -0.035 " rpy="0. 0. 0."/>
      <geometry>
        <sphere radius="0.015"/>
      </geometry>
    </visual>
    <visual>
      <origin xyz="-0.00051 0. 0.035 " rpy="0. 0. 0."/>
      <geometry>
        <sphere radius="0.015"/>
      </geometry>
    </visual>
    <visual>
      <origin xyz="0. 0. 0." rpy="0. 0. 0."/>
      <geometry>
        <sphere radius="0.019"/>
      </geometry>
    </visual>
    <visual>
      <origin xyz="0. 0. 0.0175" rpy="0. 0. 0."/>
      <geometry>
        <sphere radius="0.017"/>
      </geometry>
    </visual>
    <visual>
      <origin xyz="0. 0. -0.0175" rpy="0. 0. 0."/>
      <geometry>
        <sphere radius="0.017"/>
      </geometry>
    </visual>
    <collision>
      <origin xyz="-0.00051 0. -0.035 " rpy="0. 0. 0."/>
      <geometry>
        <sphere radius="0.015"/>
      </geometry>
    </collision>
    <collision>
      <origin xyz="-0.00051 0. 0.035 " rpy="0. 0. 0."/>
      <geometry>
        <sphere radius="0.015"/>
      </geometry>
    </collision>
    <collision>
      <origin xyz="0. 0. 0." rpy="0. 0. 0."/>
      <geometry>
        <sphere radius="0.019"/>
      </geometry>
    </collision>
    <collision>
      <origin xyz="0. 0. 0.0175" rpy="0. 0. 0."/>
      <geometry>
        <sphere radius="0.017"/>
      </geometry>
    </collision>
    <collision>
      <origin xyz="0. 0. -0.0175" rpy="0. 0. 0."/>
      <geometry>
        <sphere radius="0.017"/>
      </geometry>
    </collision>
  </link>
  <link name="back_left_roller3_link">
    <inertial>
      <origin xyz="0. 0. 0." rpy="0. 0. 0."/>
      <mass value="0.0141372"/>
      <inertia ixx="0." ixy="0." ixz="0." iyy="0." iyz="0." izz="0."/>
    </inertial>
    <visual>
      <origin xyz="-0.00051 0. -0.035 " rpy="0. 0. 0."/>
      <geometry>
        <sphere radius="0.015"/>
      </geometry>
    </visual>
    <visual>
      <origin xyz="-0.00051 0. 0.035 " rpy="0. 0. 0."/>
      <geometry>
        <sphere radius="0.015"/>
      </geometry>
    </visual>
    <visual>
      <origin xyz="0. 0. 0." rpy="0. 0. 0."/>
      <geometry>
        <sphere radius="0.019"/>
      </geometry>
    </visual>
    <visual>
      <origin xyz="0. 0. 0.0175" rpy="0. 0. 0."/>
      <geometry>
        <sphere radius="0.017"/>
      </geometry>
    </visual>
    <visual>
      <origin xyz="0. 0. -0.0175" rpy="0. 0. 0."/>
      <geometry>
        <sphere radius="0.017"/>
      </geometry>
    </visual>
    <collision>
      <origin xyz="-0.00051 0. -0.035 " rpy="0. 0. 0."/>
      <geometry>
        <sphere radius="0.015"/>
      </geometry>
    </collision>
    <collision>
      <origin xyz="-0.00051 0. 0.035 " rpy="0. 0. 0."/>
      <geometry>
        <sphere radius="0.015"/>
      </geometry>
    </collision>
    <collision>
      <origin xyz="0. 0. 0." rpy="0. 0. 0."/>
      <geometry>
        <sphere radius="0.019"/>
      </geometry>
    </collision>
    <collision>
      <origin xyz="0. 0. 0.0175" rpy="0. 0. 0."/>
      <geometry>
        <sphere radius="0.017"/>
      </geometry>
    </collision>
    <collision>
      <origin xyz="0. 0. -0.0175" rpy="0. 0. 0."/>
      <geometry>
        <sphere radius="0.017"/>
      </geometry>
    </collision>
  </link>
  <link name="back_left_roller4_link">
    <inertial>
      <origin xyz="0. 0. 0." rpy="0. 0. 0."/>
      <mass value="0.0141372"/>
      <inertia ixx="0." ixy="0." ixz="0." iyy="0." iyz="0." izz="0."/>
    </inertial>
    <visual>
      <origin xyz="-0.00051 0. -0.035 " rpy="0. 0. 0."/>
      <geometry>
        <sphere radius="0.015"/>
      </geometry>
    </visual>
    <visual>
      <origin xyz="-0.00051 0. 0.035 " rpy="0. 0. 0."/>
      <geometry>
        <sphere radius="0.015"/>
      </geometry>
    </visual>
    <visual>
      <origin xyz="0. 0. 0." rpy="0. 0. 0."/>
      <geometry>
        <sphere radius="0.019"/>
      </geometry>
    </visual>
    <visual>
      <origin xyz="0. 0. 0.0175" rpy="0. 0. 0."/>
      <geometry>
        <sphere radius="0.017"/>
      </geometry>
    </visual>
    <visual>
      <origin xyz="0. 0. -0.0175" rpy="0. 0. 0."/>
      <geometry>
        <sphere radius="0.017"/>
      </geometry>
    </visual>
    <collision>
      <origin xyz="-0.00051 0. -0.035 " rpy="0. 0. 0."/>
      <geometry>
        <sphere radius="0.015"/>
      </geometry>
    </collision>
    <collision>
      <origin xyz="-0.00051 0. 0.035 " rpy="0. 0. 0."/>
      <geometry>
        <sphere radius="0.015"/>
      </geometry>
    </collision>
    <collision>
      <origin xyz="0. 0. 0." rpy="0. 0. 0."/>
      <geometry>
        <sphere radius="0.019"/>
      </geometry>
    </collision>
    <collision>
      <origin xyz="0. 0. 0.0175" rpy="0. 0. 0."/>
      <geometry>
        <sphere radius="0.017"/>
      </geometry>
    </collision>
    <collision>
      <origin xyz="0. 0. -0.0175" rpy="0. 0. 0."/>
      <geometry>
        <sphere radius="0.017"/>
      </geometry>
    </collision>
  </link>
  <link name="back_left_roller5_link">
    <inertial>
      <origin xyz="0. 0. 0." rpy="0. 0. 0."/>
      <mass value="0.0141372"/>
      <inertia ixx="0." ixy="0." ixz="0." iyy="0." iyz="0." izz="0."/>
    </inertial>
    <visual>
      <origin xyz="-0.00051 0. -0.035 " rpy="0. 0. 0."/>
      <geometry>
        <sphere radius="0.015"/>
      </geometry>
    </visual>
    <visual>
      <origin xyz="-0.00051 0. 0.035 " rpy="0. 0. 0."/>
      <geometry>
        <sphere radius="0.015"/>
      </geometry>
    </visual>
    <visual>
      <origin xyz="0. 0. 0." rpy="0. 0. 0."/>
      <geometry>
        <sphere radius="0.019"/>
      </geometry>
    </visual>
    <visual>
      <origin xyz="0. 0. 0.0175" rpy="0. 0. 0."/>
      <geometry>
        <sphere radius="0.017"/>
      </geometry>
    </visual>
    <visual>
      <origin xyz="0. 0. -0.0175" rpy="0. 0. 0."/>
      <geometry>
        <sphere radius="0.017"/>
      </geometry>
    </visual>
    <collision>
      <origin xyz="-0.00051 0. -0.035 " rpy="0. 0. 0."/>
      <geometry>
        <sphere radius="0.015"/>
      </geometry>
    </collision>
    <collision>
      <origin xyz="-0.00051 0. 0.035 " rpy="0. 0. 0."/>
      <geometry>
        <sphere radius="0.015"/>
      </geometry>
    </collision>
    <collision>
      <origin xyz="0. 0. 0." rpy="0. 0. 0."/>
      <geometry>
        <sphere radius="0.019"/>
      </geometry>
    </collision>
    <collision>
      <origin xyz="0. 0. 0.0175" rpy="0. 0. 0."/>
      <geometry>
        <sphere radius="0.017"/>
      </geometry>
    </collision>
    <collision>
      <origin xyz="0. 0. -0.0175" rpy="0. 0. 0."/>
      <geometry>
        <sphere radius="0.017"/>
      </geometry>
    </collision>
  </link>
  <link name="back_left_roller6_link">
    <inertial>
      <origin xyz="0. 0. 0." rpy="0. 0. 0."/>
      <mass value="0.0141372"/>
      <inertia ixx="0." ixy="0." ixz="0." iyy="0." iyz="0." izz="0."/>
    </inertial>
    <visual>
      <origin xyz="-0.00051 0. -0.035 " rpy="0. 0. 0."/>
      <geometry>
        <sphere radius="0.015"/>
      </geometry>
    </visual>
    <visual>
      <origin xyz="-0.00051 0. 0.035 " rpy="0. 0. 0."/>
      <geometry>
        <sphere radius="0.015"/>
      </geometry>
    </visual>
    <visual>
      <origin xyz="0. 0. 0." rpy="0. 0. 0."/>
      <geometry>
        <sphere radius="0.019"/>
      </geometry>
    </visual>
    <visual>
      <origin xyz="0. 0. 0.0175" rpy="0. 0. 0."/>
      <geometry>
        <sphere radius="0.017"/>
      </geometry>
    </visual>
    <visual>
      <origin xyz="0. 0. -0.0175" rpy="0. 0. 0."/>
      <geometry>
        <sphere radius="0.017"/>
      </geometry>
    </visual>
    <collision>
      <origin xyz="-0.00051 0. -0.035 " rpy="0. 0. 0."/>
      <geometry>
        <sphere radius="0.015"/>
      </geometry>
    </collision>
    <collision>
      <origin xyz="-0.00051 0. 0.035 " rpy="0. 0. 0."/>
      <geometry>
        <sphere radius="0.015"/>
      </geometry>
    </collision>
    <collision>
      <origin xyz="0. 0. 0." rpy="0. 0. 0."/>
      <geometry>
        <sphere radius="0.019"/>
      </geometry>
    </collision>
    <collision>
      <origin xyz="0. 0. 0.0175" rpy="0. 0. 0."/>
      <geometry>
        <sphere radius="0.017"/>
      </geometry>
    </collision>
    <collision>
      <origin xyz="0. 0. -0.0175" rpy="0. 0. 0."/>
      <geometry>
        <sphere radius="0.017"/>
      </geometry>
    </collision>
  </link>
  <link name="back_left_roller7_link">
    <inertial>
      <origin xyz="0. 0. 0." rpy="0. 0. 0."/>
      <mass value="0.0141372"/>
      <inertia ixx="0." ixy="0." ixz="0." iyy="0." iyz="0." izz="0."/>
    </inertial>
    <visual>
      <origin xyz="-0.00051 0. -0.035 " rpy="0. 0. 0."/>
      <geometry>
        <sphere radius="0.015"/>
      </geometry>
    </visual>
    <visual>
      <origin xyz="-0.00051 0. 0.035 " rpy="0. 0. 0."/>
      <geometry>
        <sphere radius="0.015"/>
      </geometry>
    </visual>
    <visual>
      <origin xyz="0. 0. 0." rpy="0. 0. 0."/>
      <geometry>
        <sphere radius="0.019"/>
      </geometry>
    </visual>
    <visual>
      <origin xyz="0. 0. 0.0175" rpy="0. 0. 0."/>
      <geometry>
        <sphere radius="0.017"/>
      </geometry>
    </visual>
    <visual>
      <origin xyz="0. 0. -0.0175" rpy="0. 0. 0."/>
      <geometry>
        <sphere radius="0.017"/>
      </geometry>
    </visual>
    <collision>
      <origin xyz="-0.00051 0. -0.035 " rpy="0. 0. 0."/>
      <geometry>
        <sphere radius="0.015"/>
      </geometry>
    </collision>
    <collision>
      <origin xyz="-0.00051 0. 0.035 " rpy="0. 0. 0."/>
      <geometry>
        <sphere radius="0.015"/>
      </geometry>
    </collision>
    <collision>
      <origin xyz="0. 0. 0." rpy="0. 0. 0."/>
      <geometry>
        <sphere radius="0.019"/>
      </geometry>
    </collision>
    <collision>
      <origin xyz="0. 0. 0.0175" rpy="0. 0. 0."/>
      <geometry>
        <sphere radius="0.017"/>
      </geometry>
    </collision>
    <collision>
      <origin xyz="0. 0. -0.0175" rpy="0. 0. 0."/>
      <geometry>
        <sphere radius="0.017"/>
      </geometry>
    </collision>
  </link>
  <link name="back_left_roller8_link">
    <inertial>
      <origin xyz="0. 0. 0." rpy="0. 0. 0."/>
      <mass value="0.0141372"/>
      <inertia ixx="0." ixy="0." ixz="0." iyy="0." iyz="0." izz="0."/>
    </inertial>
    <visual>
      <origin xyz="-0.00051 0. -0.035 " rpy="0. 0. 0."/>
      <geometry>
        <sphere radius="0.015"/>
      </geometry>
    </visual>
    <visual>
      <origin xyz="-0.00051 0. 0.035 " rpy="0. 0. 0."/>
      <geometry>
        <sphere radius="0.015"/>
      </geometry>
    </visual>
    <visual>
      <origin xyz="0. 0. 0." rpy="0. 0. 0."/>
      <geometry>
        <sphere radius="0.019"/>
      </geometry>
    </visual>
    <visual>
      <origin xyz="0. 0. 0.0175" rpy="0. 0. 0."/>
      <geometry>
        <sphere radius="0.017"/>
      </geometry>
    </visual>
    <visual>
      <origin xyz="0. 0. -0.0175" rpy="0. 0. 0."/>
      <geometry>
        <sphere radius="0.017"/>
      </geometry>
    </visual>
    <collision>
      <origin xyz="-0.00051 0. -0.035 " rpy="0. 0. 0."/>
      <geometry>
        <sphere radius="0.015"/>
      </geometry>
    </collision>
    <collision>
      <origin xyz="-0.00051 0. 0.035 " rpy="0. 0. 0."/>
      <geometry>
        <sphere radius="0.015"/>
      </geometry>
    </collision>
    <collision>
      <origin xyz="0. 0. 0." rpy="0. 0. 0."/>
      <geometry>
        <sphere radius="0.019"/>
      </geometry>
    </collision>
    <collision>
      <origin xyz="0. 0. 0.0175" rpy="0. 0. 0."/>
      <geometry>
        <sphere radius="0.017"/>
      </geometry>
    </collision>
    <collision>
      <origin xyz="0. 0. -0.0175" rpy="0. 0. 0."/>
      <geometry>
        <sphere radius="0.017"/>
      </geometry>
    </collision>
  </link>
  <link name="back_left_roller9_link">
    <inertial>
      <origin xyz="0. 0. 0." rpy="0. 0. 0."/>
      <mass value="0.0141372"/>
      <inertia ixx="0." ixy="0." ixz="0." iyy="0." iyz="0." izz="0."/>
    </inertial>
    <visual>
      <origin xyz="-0.00051 0. -0.035 " rpy="0. 0. 0."/>
      <geometry>
        <sphere radius="0.015"/>
      </geometry>
    </visual>
    <visual>
      <origin xyz="-0.00051 0. 0.035 " rpy="0. 0. 0."/>
      <geometry>
        <sphere radius="0.015"/>
      </geometry>
    </visual>
    <visual>
      <origin xyz="0. 0. 0." rpy="0. 0. 0."/>
      <geometry>
        <sphere radius="0.019"/>
      </geometry>
    </visual>
    <visual>
      <origin xyz="0. 0. 0.0175" rpy="0. 0. 0."/>
      <geometry>
        <sphere radius="0.017"/>
      </geometry>
    </visual>
    <visual>
      <origin xyz="0. 0. -0.0175" rpy="0. 0. 0."/>
      <geometry>
        <sphere radius="0.017"/>
      </geometry>
    </visual>
    <collision>
      <origin xyz="-0.00051 0. -0.035 " rpy="0. 0. 0."/>
      <geometry>
        <sphere radius="0.015"/>
      </geometry>
    </collision>
    <collision>
      <origin xyz="-0.00051 0. 0.035 " rpy="0. 0. 0."/>
      <geometry>
        <sphere radius="0.015"/>
      </geometry>
    </collision>
    <collision>
      <origin xyz="0. 0. 0." rpy="0. 0. 0."/>
      <geometry>
        <sphere radius="0.019"/>
      </geometry>
    </collision>
    <collision>
      <origin xyz="0. 0. 0.0175" rpy="0. 0. 0."/>
      <geometry>
        <sphere radius="0.017"/>
      </geometry>
    </collision>
    <collision>
      <origin xyz="0. 0. -0.0175" rpy="0. 0. 0."/>
      <geometry>
        <sphere radius="0.017"/>
      </geometry>
    </collision>
  </link>
  <link name="back_right_roller10_link">
    <inertial>
      <origin xyz="0. 0. 0." rpy="0. 0. 0."/>
      <mass value="0.0141372"/>
      <inertia ixx="0." ixy="0." ixz="0." iyy="0." iyz="0." izz="0."/>
    </inertial>
    <visual>
      <origin xyz="-0.00051 0. -0.035 " rpy="0. 0. 0."/>
      <geometry>
        <sphere radius="0.015"/>
      </geometry>
    </visual>
    <visual>
      <origin xyz="-0.00051 0. 0.035 " rpy="0. 0. 0."/>
      <geometry>
        <sphere radius="0.015"/>
      </geometry>
    </visual>
    <visual>
      <origin xyz="0. 0. 0." rpy="0. 0. 0."/>
      <geometry>
        <sphere radius="0.019"/>
      </geometry>
    </visual>
    <visual>
      <origin xyz="0. 0. 0.0175" rpy="0. 0. 0."/>
      <geometry>
        <sphere radius="0.017"/>
      </geometry>
    </visual>
    <visual>
      <origin xyz="0. 0. -0.0175" rpy="0. 0. 0."/>
      <geometry>
        <sphere radius="0.017"/>
      </geometry>
    </visual>
    <collision>
      <origin xyz="-0.00051 0. -0.035 " rpy="0. 0. 0."/>
      <geometry>
        <sphere radius="0.015"/>
      </geometry>
    </collision>
    <collision>
      <origin xyz="-0.00051 0. 0.035 " rpy="0. 0. 0."/>
      <geometry>
        <sphere radius="0.015"/>
      </geometry>
    </collision>
    <collision>
      <origin xyz="0. 0. 0." rpy="0. 0. 0."/>
      <geometry>
        <sphere radius="0.019"/>
      </geometry>
    </collision>
    <collision>
      <origin xyz="0. 0. 0.0175" rpy="0. 0. 0."/>
      <geometry>
        <sphere radius="0.017"/>
      </geometry>
    </collision>
    <collision>
      <origin xyz="0. 0. -0.0175" rpy="0. 0. 0."/>
      <geometry>
        <sphere radius="0.017"/>
      </geometry>
    </collision>
  </link>
  <link name="back_right_roller11_link">
    <inertial>
      <origin xyz="0. 0. 0." rpy="0. 0. 0."/>
      <mass value="0.0141372"/>
      <inertia ixx="0." ixy="0." ixz="0." iyy="0." iyz="0." izz="0."/>
    </inertial>
    <visual>
      <origin xyz="-0.00051 0. -0.035 " rpy="0. 0. 0."/>
      <geometry>
        <sphere radius="0.015"/>
      </geometry>
    </visual>
    <visual>
      <origin xyz="-0.00051 0. 0.035 " rpy="0. 0. 0."/>
      <geometry>
        <sphere radius="0.015"/>
      </geometry>
    </visual>
    <visual>
      <origin xyz="0. 0. 0." rpy="0. 0. 0."/>
      <geometry>
        <sphere radius="0.019"/>
      </geometry>
    </visual>
    <visual>
      <origin xyz="0. 0. 0.0175" rpy="0. 0. 0."/>
      <geometry>
        <sphere radius="0.017"/>
      </geometry>
    </visual>
    <visual>
      <origin xyz="0. 0. -0.0175" rpy="0. 0. 0."/>
      <geometry>
        <sphere radius="0.017"/>
      </geometry>
    </visual>
    <collision>
      <origin xyz="-0.00051 0. -0.035 " rpy="0. 0. 0."/>
      <geometry>
        <sphere radius="0.015"/>
      </geometry>
    </collision>
    <collision>
      <origin xyz="-0.00051 0. 0.035 " rpy="0. 0. 0."/>
      <geometry>
        <sphere radius="0.015"/>
      </geometry>
    </collision>
    <collision>
      <origin xyz="0. 0. 0." rpy="0. 0. 0."/>
      <geometry>
        <sphere radius="0.019"/>
      </geometry>
    </collision>
    <collision>
      <origin xyz="0. 0. 0.0175" rpy="0. 0. 0."/>
      <geometry>
        <sphere radius="0.017"/>
      </geometry>
    </collision>
    <collision>
      <origin xyz="0. 0. -0.0175" rpy="0. 0. 0."/>
      <geometry>
        <sphere radius="0.017"/>
      </geometry>
    </collision>
  </link>
  <link name="back_right_roller12_link">
    <inertial>
      <origin xyz="0. 0. 0." rpy="0. 0. 0."/>
      <mass value="0.0141372"/>
      <inertia ixx="0." ixy="0." ixz="0." iyy="0." iyz="0." izz="0."/>
    </inertial>
    <visual>
      <origin xyz="-0.00051 0. -0.035 " rpy="0. 0. 0."/>
      <geometry>
        <sphere radius="0.015"/>
      </geometry>
    </visual>
    <visual>
      <origin xyz="-0.00051 0. 0.035 " rpy="0. 0. 0."/>
      <geometry>
        <sphere radius="0.015"/>
      </geometry>
    </visual>
    <visual>
      <origin xyz="0. 0. 0." rpy="0. 0. 0."/>
      <geometry>
        <sphere radius="0.019"/>
      </geometry>
    </visual>
    <visual>
      <origin xyz="0. 0. 0.0175" rpy="0. 0. 0."/>
      <geometry>
        <sphere radius="0.017"/>
      </geometry>
    </visual>
    <visual>
      <origin xyz="0. 0. -0.0175" rpy="0. 0. 0."/>
      <geometry>
        <sphere radius="0.017"/>
      </geometry>
    </visual>
    <collision>
      <origin xyz="-0.00051 0. -0.035 " rpy="0. 0. 0."/>
      <geometry>
        <sphere radius="0.015"/>
      </geometry>
    </collision>
    <collision>
      <origin xyz="-0.00051 0. 0.035 " rpy="0. 0. 0."/>
      <geometry>
        <sphere radius="0.015"/>
      </geometry>
    </collision>
    <collision>
      <origin xyz="0. 0. 0." rpy="0. 0. 0."/>
      <geometry>
        <sphere radius="0.019"/>
      </geometry>
    </collision>
    <collision>
      <origin xyz="0. 0. 0.0175" rpy="0. 0. 0."/>
      <geometry>
        <sphere radius="0.017"/>
      </geometry>
    </collision>
    <collision>
      <origin xyz="0. 0. -0.0175" rpy="0. 0. 0."/>
      <geometry>
        <sphere radius="0.017"/>
      </geometry>
    </collision>
  </link>
  <link name="back_right_roller1_link">
    <inertial>
      <origin xyz="0. 0. 0." rpy="0. 0. 0."/>
      <mass value="0.0141372"/>
      <inertia ixx="0." ixy="0." ixz="0." iyy="0." iyz="0." izz="0."/>
    </inertial>
    <visual>
      <origin xyz="-0.00051 0. -0.035 " rpy="0. 0. 0."/>
      <geometry>
        <sphere radius="0.015"/>
      </geometry>
    </visual>
    <visual>
      <origin xyz="-0.00051 0. 0.035 " rpy="0. 0. 0."/>
      <geometry>
        <sphere radius="0.015"/>
      </geometry>
    </visual>
    <visual>
      <origin xyz="0. 0. 0." rpy="0. 0. 0."/>
      <geometry>
        <sphere radius="0.019"/>
      </geometry>
    </visual>
    <visual>
      <origin xyz="0. 0. 0.0175" rpy="0. 0. 0."/>
      <geometry>
        <sphere radius="0.017"/>
      </geometry>
    </visual>
    <visual>
      <origin xyz="0. 0. -0.0175" rpy="0. 0. 0."/>
      <geometry>
        <sphere radius="0.017"/>
      </geometry>
    </visual>
    <collision>
      <origin xyz="-0.00051 0. -0.035 " rpy="0. 0. 0."/>
      <geometry>
        <sphere radius="0.015"/>
      </geometry>
    </collision>
    <collision>
      <origin xyz="-0.00051 0. 0.035 " rpy="0. 0. 0."/>
      <geometry>
        <sphere radius="0.015"/>
      </geometry>
    </collision>
    <collision>
      <origin xyz="0. 0. 0." rpy="0. 0. 0."/>
      <geometry>
        <sphere radius="0.019"/>
      </geometry>
    </collision>
    <collision>
      <origin xyz="0. 0. 0.0175" rpy="0. 0. 0."/>
      <geometry>
        <sphere radius="0.017"/>
      </geometry>
    </collision>
    <collision>
      <origin xyz="0. 0. -0.0175" rpy="0. 0. 0."/>
      <geometry>
        <sphere radius="0.017"/>
      </geometry>
    </collision>
  </link>
  <link name="back_right_roller2_link">
    <inertial>
      <origin xyz="0. 0. 0." rpy="0. 0. 0."/>
      <mass value="0.0141372"/>
      <inertia ixx="0." ixy="0." ixz="0." iyy="0." iyz="0." izz="0."/>
    </inertial>
    <visual>
      <origin xyz="-0.00051 0. -0.035 " rpy="0. 0. 0."/>
      <geometry>
        <sphere radius="0.015"/>
      </geometry>
    </visual>
    <visual>
      <origin xyz="-0.00051 0. 0.035 " rpy="0. 0. 0."/>
      <geometry>
        <sphere radius="0.015"/>
      </geometry>
    </visual>
    <visual>
      <origin xyz="0. 0. 0." rpy="0. 0. 0."/>
      <geometry>
        <sphere radius="0.019"/>
      </geometry>
    </visual>
    <visual>
      <origin xyz="0. 0. 0.0175" rpy="0. 0. 0."/>
      <geometry>
        <sphere radius="0.017"/>
      </geometry>
    </visual>
    <visual>
      <origin xyz="0. 0. -0.0175" rpy="0. 0. 0."/>
      <geometry>
        <sphere radius="0.017"/>
      </geometry>
    </visual>
    <collision>
      <origin xyz="-0.00051 0. -0.035 " rpy="0. 0. 0."/>
      <geometry>
        <sphere radius="0.015"/>
      </geometry>
    </collision>
    <collision>
      <origin xyz="-0.00051 0. 0.035 " rpy="0. 0. 0."/>
      <geometry>
        <sphere radius="0.015"/>
      </geometry>
    </collision>
    <collision>
      <origin xyz="0. 0. 0." rpy="0. 0. 0."/>
      <geometry>
        <sphere radius="0.019"/>
      </geometry>
    </collision>
    <collision>
      <origin xyz="0. 0. 0.0175" rpy="0. 0. 0."/>
      <geometry>
        <sphere radius="0.017"/>
      </geometry>
    </collision>
    <collision>
      <origin xyz="0. 0. -0.0175" rpy="0. 0. 0."/>
      <geometry>
        <sphere radius="0.017"/>
      </geometry>
    </collision>
  </link>
  <link name="back_right_roller3_link">
    <inertial>
      <origin xyz="0. 0. 0." rpy="0. 0. 0."/>
      <mass value="0.0141372"/>
      <inertia ixx="0." ixy="0." ixz="0." iyy="0." iyz="0." izz="0."/>
    </inertial>
    <visual>
      <origin xyz="-0.00051 0. -0.035 " rpy="0. 0. 0."/>
      <geometry>
        <sphere radius="0.015"/>
      </geometry>
    </visual>
    <visual>
      <origin xyz="-0.00051 0. 0.035 " rpy="0. 0. 0."/>
      <geometry>
        <sphere radius="0.015"/>
      </geometry>
    </visual>
    <visual>
      <origin xyz="0. 0. 0." rpy="0. 0. 0."/>
      <geometry>
        <sphere radius="0.019"/>
      </geometry>
    </visual>
    <visual>
      <origin xyz="0. 0. 0.0175" rpy="0. 0. 0."/>
      <geometry>
        <sphere radius="0.017"/>
      </geometry>
    </visual>
    <visual>
      <origin xyz="0. 0. -0.0175" rpy="0. 0. 0."/>
      <geometry>
        <sphere radius="0.017"/>
      </geometry>
    </visual>
    <collision>
      <origin xyz="-0.00051 0. -0.035 " rpy="0. 0. 0."/>
      <geometry>
        <sphere radius="0.015"/>
      </geometry>
    </collision>
    <collision>
      <origin xyz="-0.00051 0. 0.035 " rpy="0. 0. 0."/>
      <geometry>
        <sphere radius="0.015"/>
      </geometry>
    </collision>
    <collision>
      <origin xyz="0. 0. 0." rpy="0. 0. 0."/>
      <geometry>
        <sphere radius="0.019"/>
      </geometry>
    </collision>
    <collision>
      <origin xyz="0. 0. 0.0175" rpy="0. 0. 0."/>
      <geometry>
        <sphere radius="0.017"/>
      </geometry>
    </collision>
    <collision>
      <origin xyz="0. 0. -0.0175" rpy="0. 0. 0."/>
      <geometry>
        <sphere radius="0.017"/>
      </geometry>
    </collision>
  </link>
  <link name="back_right_roller4_link">
    <inertial>
      <origin xyz="0. 0. 0." rpy="0. 0. 0."/>
      <mass value="0.0141372"/>
      <inertia ixx="0." ixy="0." ixz="0." iyy="0." iyz="0." izz="0."/>
    </inertial>
    <visual>
      <origin xyz="-0.00051 0. -0.035 " rpy="0. 0. 0."/>
      <geometry>
        <sphere radius="0.015"/>
      </geometry>
    </visual>
    <visual>
      <origin xyz="-0.00051 0. 0.035 " rpy="0. 0. 0."/>
      <geometry>
        <sphere radius="0.015"/>
      </geometry>
    </visual>
    <visual>
      <origin xyz="0. 0. 0." rpy="0. 0. 0."/>
      <geometry>
        <sphere radius="0.019"/>
      </geometry>
    </visual>
    <visual>
      <origin xyz="0. 0. 0.0175" rpy="0. 0. 0."/>
      <geometry>
        <sphere radius="0.017"/>
      </geometry>
    </visual>
    <visual>
      <origin xyz="0. 0. -0.0175" rpy="0. 0. 0."/>
      <geometry>
        <sphere radius="0.017"/>
      </geometry>
    </visual>
    <collision>
      <origin xyz="-0.00051 0. -0.035 " rpy="0. 0. 0."/>
      <geometry>
        <sphere radius="0.015"/>
      </geometry>
    </collision>
    <collision>
      <origin xyz="-0.00051 0. 0.035 " rpy="0. 0. 0."/>
      <geometry>
        <sphere radius="0.015"/>
      </geometry>
    </collision>
    <collision>
      <origin xyz="0. 0. 0." rpy="0. 0. 0."/>
      <geometry>
        <sphere radius="0.019"/>
      </geometry>
    </collision>
    <collision>
      <origin xyz="0. 0. 0.0175" rpy="0. 0. 0."/>
      <geometry>
        <sphere radius="0.017"/>
      </geometry>
    </collision>
    <collision>
      <origin xyz="0. 0. -0.0175" rpy="0. 0. 0."/>
      <geometry>
        <sphere radius="0.017"/>
      </geometry>
    </collision>
  </link>
  <link name="back_right_roller5_link">
    <inertial>
      <origin xyz="0. 0. 0." rpy="0. 0. 0."/>
      <mass value="0.0141372"/>
      <inertia ixx="0." ixy="0." ixz="0." iyy="0." iyz="0." izz="0."/>
    </inertial>
    <visual>
      <origin xyz="-0.00051 0. -0.035 " rpy="0. 0. 0."/>
      <geometry>
        <sphere radius="0.015"/>
      </geometry>
    </visual>
    <visual>
      <origin xyz="-0.00051 0. 0.035 " rpy="0. 0. 0."/>
      <geometry>
        <sphere radius="0.015"/>
      </geometry>
    </visual>
    <visual>
      <origin xyz="0. 0. 0." rpy="0. 0. 0."/>
      <geometry>
        <sphere radius="0.019"/>
      </geometry>
    </visual>
    <visual>
      <origin xyz="0. 0. 0.0175" rpy="0. 0. 0."/>
      <geometry>
        <sphere radius="0.017"/>
      </geometry>
    </visual>
    <visual>
      <origin xyz="0. 0. -0.0175" rpy="0. 0. 0."/>
      <geometry>
        <sphere radius="0.017"/>
      </geometry>
    </visual>
    <collision>
      <origin xyz="-0.00051 0. -0.035 " rpy="0. 0. 0."/>
      <geometry>
        <sphere radius="0.015"/>
      </geometry>
    </collision>
    <collision>
      <origin xyz="-0.00051 0. 0.035 " rpy="0. 0. 0."/>
      <geometry>
        <sphere radius="0.015"/>
      </geometry>
    </collision>
    <collision>
      <origin xyz="0. 0. 0." rpy="0. 0. 0."/>
      <geometry>
        <sphere radius="0.019"/>
      </geometry>
    </collision>
    <collision>
      <origin xyz="0. 0. 0.0175" rpy="0. 0. 0."/>
      <geometry>
        <sphere radius="0.017"/>
      </geometry>
    </collision>
    <collision>
      <origin xyz="0. 0. -0.0175" rpy="0. 0. 0."/>
      <geometry>
        <sphere radius="0.017"/>
      </geometry>
    </collision>
  </link>
  <link name="back_right_roller6_link">
    <inertial>
      <origin xyz="0. 0. 0." rpy="0. 0. 0."/>
      <mass value="0.0141372"/>
      <inertia ixx="0." ixy="0." ixz="0." iyy="0." iyz="0." izz="0."/>
    </inertial>
    <visual>
      <origin xyz="-0.00051 0. -0.035 " rpy="0. 0. 0."/>
      <geometry>
        <sphere radius="0.015"/>
      </geometry>
    </visual>
    <visual>
      <origin xyz="-0.00051 0. 0.035 " rpy="0. 0. 0."/>
      <geometry>
        <sphere radius="0.015"/>
      </geometry>
    </visual>
    <visual>
      <origin xyz="0. 0. 0." rpy="0. 0. 0."/>
      <geometry>
        <sphere radius="0.019"/>
      </geometry>
    </visual>
    <visual>
      <origin xyz="0. 0. 0.0175" rpy="0. 0. 0."/>
      <geometry>
        <sphere radius="0.017"/>
      </geometry>
    </visual>
    <visual>
      <origin xyz="0. 0. -0.0175" rpy="0. 0. 0."/>
      <geometry>
        <sphere radius="0.017"/>
      </geometry>
    </visual>
    <collision>
      <origin xyz="-0.00051 0. -0.035 " rpy="0. 0. 0."/>
      <geometry>
        <sphere radius="0.015"/>
      </geometry>
    </collision>
    <collision>
      <origin xyz="-0.00051 0. 0.035 " rpy="0. 0. 0."/>
      <geometry>
        <sphere radius="0.015"/>
      </geometry>
    </collision>
    <collision>
      <origin xyz="0. 0. 0." rpy="0. 0. 0."/>
      <geometry>
        <sphere radius="0.019"/>
      </geometry>
    </collision>
    <collision>
      <origin xyz="0. 0. 0.0175" rpy="0. 0. 0."/>
      <geometry>
        <sphere radius="0.017"/>
      </geometry>
    </collision>
    <collision>
      <origin xyz="0. 0. -0.0175" rpy="0. 0. 0."/>
      <geometry>
        <sphere radius="0.017"/>
      </geometry>
    </collision>
  </link>
  <link name="back_right_roller7_link">
    <inertial>
      <origin xyz="0. 0. 0." rpy="0. 0. 0."/>
      <mass value="0.0141372"/>
      <inertia ixx="0." ixy="0." ixz="0." iyy="0." iyz="0." izz="0."/>
    </inertial>
    <visual>
      <origin xyz="-0.00051 0. -0.035 " rpy="0. 0. 0."/>
      <geometry>
        <sphere radius="0.015"/>
      </geometry>
    </visual>
    <visual>
      <origin xyz="-0.00051 0. 0.035 " rpy="0. 0. 0."/>
      <geometry>
        <sphere radius="0.015"/>
      </geometry>
    </visual>
    <visual>
      <origin xyz="0. 0. 0." rpy="0. 0. 0."/>
      <geometry>
        <sphere radius="0.019"/>
      </geometry>
    </visual>
    <visual>
      <origin xyz="0. 0. 0.0175" rpy="0. 0. 0."/>
      <geometry>
        <sphere radius="0.017"/>
      </geometry>
    </visual>
    <visual>
      <origin xyz="0. 0. -0.0175" rpy="0. 0. 0."/>
      <geometry>
        <sphere radius="0.017"/>
      </geometry>
    </visual>
    <collision>
      <origin xyz="-0.00051 0. -0.035 " rpy="0. 0. 0."/>
      <geometry>
        <sphere radius="0.015"/>
      </geometry>
    </collision>
    <collision>
      <origin xyz="-0.00051 0. 0.035 " rpy="0. 0. 0."/>
      <geometry>
        <sphere radius="0.015"/>
      </geometry>
    </collision>
    <collision>
      <origin xyz="0. 0. 0." rpy="0. 0. 0."/>
      <geometry>
        <sphere radius="0.019"/>
      </geometry>
    </collision>
    <collision>
      <origin xyz="0. 0. 0.0175" rpy="0. 0. 0."/>
      <geometry>
        <sphere radius="0.017"/>
      </geometry>
    </collision>
    <collision>
      <origin xyz="0. 0. -0.0175" rpy="0. 0. 0."/>
      <geometry>
        <sphere radius="0.017"/>
      </geometry>
    </collision>
  </link>
  <link name="back_right_roller8_link">
    <inertial>
      <origin xyz="0. 0. 0." rpy="0. 0. 0."/>
      <mass value="0.0141372"/>
      <inertia ixx="0." ixy="0." ixz="0." iyy="0." iyz="0." izz="0."/>
    </inertial>
    <visual>
      <origin xyz="-0.00051 0. -0.035 " rpy="0. 0. 0."/>
      <geometry>
        <sphere radius="0.015"/>
      </geometry>
    </visual>
    <visual>
      <origin xyz="-0.00051 0. 0.035 " rpy="0. 0. 0."/>
      <geometry>
        <sphere radius="0.015"/>
      </geometry>
    </visual>
    <visual>
      <origin xyz="0. 0. 0." rpy="0. 0. 0."/>
      <geometry>
        <sphere radius="0.019"/>
      </geometry>
    </visual>
    <visual>
      <origin xyz="0. 0. 0.0175" rpy="0. 0. 0."/>
      <geometry>
        <sphere radius="0.017"/>
      </geometry>
    </visual>
    <visual>
      <origin xyz="0. 0. -0.0175" rpy="0. 0. 0."/>
      <geometry>
        <sphere radius="0.017"/>
      </geometry>
    </visual>
    <collision>
      <origin xyz="-0.00051 0. -0.035 " rpy="0. 0. 0."/>
      <geometry>
        <sphere radius="0.015"/>
      </geometry>
    </collision>
    <collision>
      <origin xyz="-0.00051 0. 0.035 " rpy="0. 0. 0."/>
      <geometry>
        <sphere radius="0.015"/>
      </geometry>
    </collision>
    <collision>
      <origin xyz="0. 0. 0." rpy="0. 0. 0."/>
      <geometry>
        <sphere radius="0.019"/>
      </geometry>
    </collision>
    <collision>
      <origin xyz="0. 0. 0.0175" rpy="0. 0. 0."/>
      <geometry>
        <sphere radius="0.017"/>
      </geometry>
    </collision>
    <collision>
      <origin xyz="0. 0. -0.0175" rpy="0. 0. 0."/>
      <geometry>
        <sphere radius="0.017"/>
      </geometry>
    </collision>
  </link>
  <link name="back_right_roller9_link">
    <inertial>
      <origin xyz="0. 0. 0." rpy="0. 0. 0."/>
      <mass value="0.0141372"/>
      <inertia ixx="0." ixy="0." ixz="0." iyy="0." iyz="0." izz="0."/>
    </inertial>
    <visual>
      <origin xyz="-0.00051 0. -0.035 " rpy="0. 0. 0."/>
      <geometry>
        <sphere radius="0.015"/>
      </geometry>
    </visual>
    <visual>
      <origin xyz="-0.00051 0. 0.035 " rpy="0. 0. 0."/>
      <geometry>
        <sphere radius="0.015"/>
      </geometry>
    </visual>
    <visual>
      <origin xyz="0. 0. 0." rpy="0. 0. 0."/>
      <geometry>
        <sphere radius="0.019"/>
      </geometry>
    </visual>
    <visual>
      <origin xyz="0. 0. 0.0175" rpy="0. 0. 0."/>
      <geometry>
        <sphere radius="0.017"/>
      </geometry>
    </visual>
    <visual>
      <origin xyz="0. 0. -0.0175" rpy="0. 0. 0."/>
      <geometry>
        <sphere radius="0.017"/>
      </geometry>
    </visual>
    <collision>
      <origin xyz="-0.00051 0. -0.035 " rpy="0. 0. 0."/>
      <geometry>
        <sphere radius="0.015"/>
      </geometry>
    </collision>
    <collision>
      <origin xyz="-0.00051 0. 0.035 " rpy="0. 0. 0."/>
      <geometry>
        <sphere radius="0.015"/>
      </geometry>
    </collision>
    <collision>
      <origin xyz="0. 0. 0." rpy="0. 0. 0."/>
      <geometry>
        <sphere radius="0.019"/>
      </geometry>
    </collision>
    <collision>
      <origin xyz="0. 0. 0.0175" rpy="0. 0. 0."/>
      <geometry>
        <sphere radius="0.017"/>
      </geometry>
    </collision>
    <collision>
      <origin xyz="0. 0. -0.0175" rpy="0. 0. 0."/>
      <geometry>
        <sphere radius="0.017"/>
      </geometry>
    </collision>
  </link>
  <link name="base_link">
    <inertial>
      <origin xyz="0. 0. 0." rpy="0. 0. 0."/>
      <mass value="125."/>
      <inertia ixx="0." ixy="0." ixz="0." iyy="0." iyz="0." izz="0."/>
    </inertial>
    <visual>
      <origin xyz="0. 0. 0." rpy="0. 0. 0."/>
      <geometry>
        <mesh filename="package://robot_description/meshes/base_link_visuals.obj" scale="1. 1. 1."/>
      </geometry>
    </visual>
    <collision>
      <origin xyz="0. 0. 0." rpy="0. 0. 0."/>
      <geometry>
        <mesh filename="package://robot_description/meshes/base_link_visuals.obj" scale="1. 1. 1."/>
      </geometry>
    </collision>
  </link>
  <link name="franka_panda_hand">
    <inertial>
      <origin xyz="0. 0. 0." rpy="0. 0. 0."/>
      <mass value="0.5583305"/>
      <inertia ixx="0." ixy="0." ixz="0." iyy="0." iyz="0." izz="0."/>
    </inertial>
    <visual>
      <origin xyz="0. 0. 0." rpy="0. 0. 0."/>
      <geometry>
        <mesh filename="package://robot_description/meshes/ID234_001.obj" scale="1. 1. 1."/>
      </geometry>
    </visual>
    <visual>
      <origin xyz="0. 0. 0." rpy="0. 0. 0."/>
      <geometry>
        <mesh filename="package://robot_description/meshes/ID234_001frA.obj" scale="1. 1. 1."/>
      </geometry>
    </visual>
    <visual>
      <origin xyz="0. 0. 0." rpy="0. 0. 0."/>
      <geometry>
        <mesh filename="package://robot_description/meshes/ID234_001jEI.obj" scale="1. 1. 1."/>
      </geometry>
    </visual>
    <visual>
      <origin xyz="0. 0. 0." rpy="0. 0. 0."/>
      <geometry>
        <mesh filename="package://robot_description/meshes/ID234_001m4u.obj" scale="1. 1. 1."/>
      </geometry>
    </visual>
    <visual>
      <origin xyz="0. 0. 0." rpy="0. 0. 0.0000002"/>
      <geometry>
        <mesh filename="package://robot_description/meshes/ID4_000.obj" scale="1. 1. 1."/>
      </geometry>
    </visual>
    <visual>
      <origin xyz="0. 0. 0." rpy="0. 0. 0.0000002"/>
      <geometry>
        <mesh filename="package://robot_description/meshes/ID4_000frA.obj" scale="1. 1. 1."/>
      </geometry>
    </visual>
    <visual>
      <origin xyz="0. 0. 0." rpy="0. 0. 0.0000002"/>
      <geometry>
        <mesh filename="package://robot_description/meshes/ID4_000jEI.obj" scale="1. 1. 1."/>
      </geometry>
    </visual>
    <visual>
      <origin xyz="0. 0. 0." rpy="0. 0. 0.0000002"/>
      <geometry>
        <mesh filename="package://robot_description/meshes/ID4_000m4u.obj" scale="1. 1. 1."/>
      </geometry>
    </visual>
    <collision>
      <origin xyz="0. 0. 0." rpy="0. 0. 0."/>
      <geometry>
        <mesh filename="package://robot_description/meshes/ID234_001frA.obj" scale="1. 1. 1."/>
      </geometry>
    </collision>
    <collision>
      <origin xyz="0. 0. 0." rpy="0. 0. 0."/>
      <geometry>
        <mesh filename="package://robot_description/meshes/ID234_001m4u.obj" scale="1. 1. 1."/>
      </geometry>
    </collision>
    <collision>
      <origin xyz="0. 0. 0." rpy="0. 0. 0.0000002"/>
      <geometry>
        <mesh filename="package://robot_description/meshes/ID4_000.obj" scale="1. 1. 1."/>
      </geometry>
    </collision>
    <collision>
      <origin xyz="0. 0. 0." rpy="0. 0. 0.0000002"/>
      <geometry>
        <mesh filename="package://robot_description/meshes/ID4_000m4u.obj" scale="1. 1. 1."/>
      </geometry>
    </collision>
  </link>
  <link name="front_left_roller10_link">
    <inertial>
      <origin xyz="0. 0. 0." rpy="0. 0. 0."/>
      <mass value="0.0141372"/>
      <inertia ixx="0." ixy="0." ixz="0." iyy="0." iyz="0." izz="0."/>
    </inertial>
    <visual>
      <origin xyz="-0.00051 0. -0.035 " rpy="0. 0. 0."/>
      <geometry>
        <sphere radius="0.015"/>
      </geometry>
    </visual>
    <visual>
      <origin xyz="-0.00051 0. 0.035 " rpy="0. 0. 0."/>
      <geometry>
        <sphere radius="0.015"/>
      </geometry>
    </visual>
    <visual>
      <origin xyz="0. 0. 0." rpy="0. 0. 0."/>
      <geometry>
        <sphere radius="0.019"/>
      </geometry>
    </visual>
    <visual>
      <origin xyz="0. 0. 0.0175" rpy="0. 0. 0."/>
      <geometry>
        <sphere radius="0.017"/>
      </geometry>
    </visual>
    <visual>
      <origin xyz="0. 0. -0.0175" rpy="0. 0. 0."/>
      <geometry>
        <sphere radius="0.017"/>
      </geometry>
    </visual>
    <collision>
      <origin xyz="-0.00051 0. -0.035 " rpy="0. 0. 0."/>
      <geometry>
        <sphere radius="0.015"/>
      </geometry>
    </collision>
    <collision>
      <origin xyz="-0.00051 0. 0.035 " rpy="0. 0. 0."/>
      <geometry>
        <sphere radius="0.015"/>
      </geometry>
    </collision>
    <collision>
      <origin xyz="0. 0. 0." rpy="0. 0. 0."/>
      <geometry>
        <sphere radius="0.019"/>
      </geometry>
    </collision>
    <collision>
      <origin xyz="0. 0. 0.0175" rpy="0. 0. 0."/>
      <geometry>
        <sphere radius="0.017"/>
      </geometry>
    </collision>
    <collision>
      <origin xyz="0. 0. -0.0175" rpy="0. 0. 0."/>
      <geometry>
        <sphere radius="0.017"/>
      </geometry>
    </collision>
  </link>
  <link name="front_left_roller11_link">
    <inertial>
      <origin xyz="0. 0. 0." rpy="0. 0. 0."/>
      <mass value="0.0141372"/>
      <inertia ixx="0." ixy="0." ixz="0." iyy="0." iyz="0." izz="0."/>
    </inertial>
    <visual>
      <origin xyz="-0.00051 0. -0.035 " rpy="0. 0. 0."/>
      <geometry>
        <sphere radius="0.015"/>
      </geometry>
    </visual>
    <visual>
      <origin xyz="-0.00051 0. 0.035 " rpy="0. 0. 0."/>
      <geometry>
        <sphere radius="0.015"/>
      </geometry>
    </visual>
    <visual>
      <origin xyz="0. 0. 0." rpy="0. 0. 0."/>
      <geometry>
        <sphere radius="0.019"/>
      </geometry>
    </visual>
    <visual>
      <origin xyz="0. 0. 0.0175" rpy="0. 0. 0."/>
      <geometry>
        <sphere radius="0.017"/>
      </geometry>
    </visual>
    <visual>
      <origin xyz="0. 0. -0.0175" rpy="0. 0. 0."/>
      <geometry>
        <sphere radius="0.017"/>
      </geometry>
    </visual>
    <collision>
      <origin xyz="-0.00051 0. -0.035 " rpy="0. 0. 0."/>
      <geometry>
        <sphere radius="0.015"/>
      </geometry>
    </collision>
    <collision>
      <origin xyz="-0.00051 0. 0.035 " rpy="0. 0. 0."/>
      <geometry>
        <sphere radius="0.015"/>
      </geometry>
    </collision>
    <collision>
      <origin xyz="0. 0. 0." rpy="0. 0. 0."/>
      <geometry>
        <sphere radius="0.019"/>
      </geometry>
    </collision>
    <collision>
      <origin xyz="0. 0. 0.0175" rpy="0. 0. 0."/>
      <geometry>
        <sphere radius="0.017"/>
      </geometry>
    </collision>
    <collision>
      <origin xyz="0. 0. -0.0175" rpy="0. 0. 0."/>
      <geometry>
        <sphere radius="0.017"/>
      </geometry>
    </collision>
  </link>
  <link name="front_left_roller12_link">
    <inertial>
      <origin xyz="0. 0. 0." rpy="0. 0. 0."/>
      <mass value="0.0141372"/>
      <inertia ixx="0." ixy="0." ixz="0." iyy="0." iyz="0." izz="0."/>
    </inertial>
    <visual>
      <origin xyz="-0.00051 0. -0.035 " rpy="0. 0. 0."/>
      <geometry>
        <sphere radius="0.015"/>
      </geometry>
    </visual>
    <visual>
      <origin xyz="-0.00051 0. 0.035 " rpy="0. 0. 0."/>
      <geometry>
        <sphere radius="0.015"/>
      </geometry>
    </visual>
    <visual>
      <origin xyz="0. 0. 0." rpy="0. 0. 0."/>
      <geometry>
        <sphere radius="0.019"/>
      </geometry>
    </visual>
    <visual>
      <origin xyz="0. 0. 0.0175" rpy="0. 0. 0."/>
      <geometry>
        <sphere radius="0.017"/>
      </geometry>
    </visual>
    <visual>
      <origin xyz="0. 0. -0.0175" rpy="0. 0. 0."/>
      <geometry>
        <sphere radius="0.017"/>
      </geometry>
    </visual>
    <collision>
      <origin xyz="-0.00051 0. -0.035 " rpy="0. 0. 0."/>
      <geometry>
        <sphere radius="0.015"/>
      </geometry>
    </collision>
    <collision>
      <origin xyz="-0.00051 0. 0.035 " rpy="0. 0. 0."/>
      <geometry>
        <sphere radius="0.015"/>
      </geometry>
    </collision>
    <collision>
      <origin xyz="0. 0. 0." rpy="0. 0. 0."/>
      <geometry>
        <sphere radius="0.019"/>
      </geometry>
    </collision>
    <collision>
      <origin xyz="0. 0. 0.0175" rpy="0. 0. 0."/>
      <geometry>
        <sphere radius="0.017"/>
      </geometry>
    </collision>
    <collision>
      <origin xyz="0. 0. -0.0175" rpy="0. 0. 0."/>
      <geometry>
        <sphere radius="0.017"/>
      </geometry>
    </collision>
  </link>
  <link name="front_left_roller1_link">
    <inertial>
      <origin xyz="0. 0. 0." rpy="0. 0. 0."/>
      <mass value="0.0141372"/>
      <inertia ixx="0." ixy="0." ixz="0." iyy="0." iyz="0." izz="0."/>
    </inertial>
    <visual>
      <origin xyz="-0.00051 0. -0.035 " rpy="0. 0. 0."/>
      <geometry>
        <sphere radius="0.015"/>
      </geometry>
    </visual>
    <visual>
      <origin xyz="-0.00051 0. 0.035 " rpy="0. 0. 0."/>
      <geometry>
        <sphere radius="0.015"/>
      </geometry>
    </visual>
    <visual>
      <origin xyz="0. 0. 0." rpy="0. 0. 0."/>
      <geometry>
        <sphere radius="0.019"/>
      </geometry>
    </visual>
    <visual>
      <origin xyz="0. 0. 0.0175" rpy="0. 0. 0."/>
      <geometry>
        <sphere radius="0.017"/>
      </geometry>
    </visual>
    <visual>
      <origin xyz="0. 0. -0.0175" rpy="0. 0. 0."/>
      <geometry>
        <sphere radius="0.017"/>
      </geometry>
    </visual>
    <collision>
      <origin xyz="-0.00051 0. -0.035 " rpy="0. 0. 0."/>
      <geometry>
        <sphere radius="0.015"/>
      </geometry>
    </collision>
    <collision>
      <origin xyz="-0.00051 0. 0.035 " rpy="0. 0. 0."/>
      <geometry>
        <sphere radius="0.015"/>
      </geometry>
    </collision>
    <collision>
      <origin xyz="0. 0. 0." rpy="0. 0. 0."/>
      <geometry>
        <sphere radius="0.019"/>
      </geometry>
    </collision>
    <collision>
      <origin xyz="0. 0. 0.0175" rpy="0. 0. 0."/>
      <geometry>
        <sphere radius="0.017"/>
      </geometry>
    </collision>
    <collision>
      <origin xyz="0. 0. -0.0175" rpy="0. 0. 0."/>
      <geometry>
        <sphere radius="0.017"/>
      </geometry>
    </collision>
  </link>
  <link name="front_left_roller2_link">
    <inertial>
      <origin xyz="0. 0. 0." rpy="0. 0. 0."/>
      <mass value="0.0141372"/>
      <inertia ixx="0." ixy="0." ixz="0." iyy="0." iyz="0." izz="0."/>
    </inertial>
    <visual>
      <origin xyz="-0.00051 0. -0.035 " rpy="0. 0. 0."/>
      <geometry>
        <sphere radius="0.015"/>
      </geometry>
    </visual>
    <visual>
      <origin xyz="-0.00051 0. 0.035 " rpy="0. 0. 0."/>
      <geometry>
        <sphere radius="0.015"/>
      </geometry>
    </visual>
    <visual>
      <origin xyz="0. 0. 0." rpy="0. 0. 0."/>
      <geometry>
        <sphere radius="0.019"/>
      </geometry>
    </visual>
    <visual>
      <origin xyz="0. 0. 0.0175" rpy="0. 0. 0."/>
      <geometry>
        <sphere radius="0.017"/>
      </geometry>
    </visual>
    <visual>
      <origin xyz="0. 0. -0.0175" rpy="0. 0. 0."/>
      <geometry>
        <sphere radius="0.017"/>
      </geometry>
    </visual>
    <collision>
      <origin xyz="-0.00051 0. -0.035 " rpy="0. 0. 0."/>
      <geometry>
        <sphere radius="0.015"/>
      </geometry>
    </collision>
    <collision>
      <origin xyz="-0.00051 0. 0.035 " rpy="0. 0. 0."/>
      <geometry>
        <sphere radius="0.015"/>
      </geometry>
    </collision>
    <collision>
      <origin xyz="0. 0. 0." rpy="0. 0. 0."/>
      <geometry>
        <sphere radius="0.019"/>
      </geometry>
    </collision>
    <collision>
      <origin xyz="0. 0. 0.0175" rpy="0. 0. 0."/>
      <geometry>
        <sphere radius="0.017"/>
      </geometry>
    </collision>
    <collision>
      <origin xyz="0. 0. -0.0175" rpy="0. 0. 0."/>
      <geometry>
        <sphere radius="0.017"/>
      </geometry>
    </collision>
  </link>
  <link name="front_left_roller3_link">
    <inertial>
      <origin xyz="0. 0. 0." rpy="0. 0. 0."/>
      <mass value="0.0141372"/>
      <inertia ixx="0." ixy="0." ixz="0." iyy="0." iyz="0." izz="0."/>
    </inertial>
    <visual>
      <origin xyz="-0.00051 0. -0.035 " rpy="0. 0. 0."/>
      <geometry>
        <sphere radius="0.015"/>
      </geometry>
    </visual>
    <visual>
      <origin xyz="-0.00051 0. 0.035 " rpy="0. 0. 0."/>
      <geometry>
        <sphere radius="0.015"/>
      </geometry>
    </visual>
    <visual>
      <origin xyz="0. 0. 0." rpy="0. 0. 0."/>
      <geometry>
        <sphere radius="0.019"/>
      </geometry>
    </visual>
    <visual>
      <origin xyz="0. 0. 0.0175" rpy="0. 0. 0."/>
      <geometry>
        <sphere radius="0.017"/>
      </geometry>
    </visual>
    <visual>
      <origin xyz="0. 0. -0.0175" rpy="0. 0. 0."/>
      <geometry>
        <sphere radius="0.017"/>
      </geometry>
    </visual>
    <collision>
      <origin xyz="-0.00051 0. -0.035 " rpy="0. 0. 0."/>
      <geometry>
        <sphere radius="0.015"/>
      </geometry>
    </collision>
    <collision>
      <origin xyz="-0.00051 0. 0.035 " rpy="0. 0. 0."/>
      <geometry>
        <sphere radius="0.015"/>
      </geometry>
    </collision>
    <collision>
      <origin xyz="0. 0. 0." rpy="0. 0. 0."/>
      <geometry>
        <sphere radius="0.019"/>
      </geometry>
    </collision>
    <collision>
      <origin xyz="0. 0. 0.0175" rpy="0. 0. 0."/>
      <geometry>
        <sphere radius="0.017"/>
      </geometry>
    </collision>
    <collision>
      <origin xyz="0. 0. -0.0175" rpy="0. 0. 0."/>
      <geometry>
        <sphere radius="0.017"/>
      </geometry>
    </collision>
  </link>
  <link name="front_left_roller4_link">
    <inertial>
      <origin xyz="0. 0. 0." rpy="0. 0. 0."/>
      <mass value="0.0141372"/>
      <inertia ixx="0." ixy="0." ixz="0." iyy="0." iyz="0." izz="0."/>
    </inertial>
    <visual>
      <origin xyz="-0.00051 0. -0.035 " rpy="0. 0. 0."/>
      <geometry>
        <sphere radius="0.015"/>
      </geometry>
    </visual>
    <visual>
      <origin xyz="-0.00051 0. 0.035 " rpy="0. 0. 0."/>
      <geometry>
        <sphere radius="0.015"/>
      </geometry>
    </visual>
    <visual>
      <origin xyz="0. 0. 0." rpy="0. 0. 0."/>
      <geometry>
        <sphere radius="0.019"/>
      </geometry>
    </visual>
    <visual>
      <origin xyz="0. 0. 0.0175" rpy="0. 0. 0."/>
      <geometry>
        <sphere radius="0.017"/>
      </geometry>
    </visual>
    <visual>
      <origin xyz="0. 0. -0.0175" rpy="0. 0. 0."/>
      <geometry>
        <sphere radius="0.017"/>
      </geometry>
    </visual>
    <collision>
      <origin xyz="-0.00051 0. -0.035 " rpy="0. 0. 0."/>
      <geometry>
        <sphere radius="0.015"/>
      </geometry>
    </collision>
    <collision>
      <origin xyz="-0.00051 0. 0.035 " rpy="0. 0. 0."/>
      <geometry>
        <sphere radius="0.015"/>
      </geometry>
    </collision>
    <collision>
      <origin xyz="0. 0. 0." rpy="0. 0. 0."/>
      <geometry>
        <sphere radius="0.019"/>
      </geometry>
    </collision>
    <collision>
      <origin xyz="0. 0. 0.0175" rpy="0. 0. 0."/>
      <geometry>
        <sphere radius="0.017"/>
      </geometry>
    </collision>
    <collision>
      <origin xyz="0. 0. -0.0175" rpy="0. 0. 0."/>
      <geometry>
        <sphere radius="0.017"/>
      </geometry>
    </collision>
  </link>
  <link name="front_left_roller5_link">
    <inertial>
      <origin xyz="0. 0. 0." rpy="0. 0. 0."/>
      <mass value="0.0141372"/>
      <inertia ixx="0." ixy="0." ixz="0." iyy="0." iyz="0." izz="0."/>
    </inertial>
    <visual>
      <origin xyz="-0.00051 0. -0.035 " rpy="0. 0. 0."/>
      <geometry>
        <sphere radius="0.015"/>
      </geometry>
    </visual>
    <visual>
      <origin xyz="-0.00051 0. 0.035 " rpy="0. 0. 0."/>
      <geometry>
        <sphere radius="0.015"/>
      </geometry>
    </visual>
    <visual>
      <origin xyz="0. 0. 0." rpy="0. 0. 0."/>
      <geometry>
        <sphere radius="0.019"/>
      </geometry>
    </visual>
    <visual>
      <origin xyz="0. 0. 0.0175" rpy="0. 0. 0."/>
      <geometry>
        <sphere radius="0.017"/>
      </geometry>
    </visual>
    <visual>
      <origin xyz="0. 0. -0.0175" rpy="0. 0. 0."/>
      <geometry>
        <sphere radius="0.017"/>
      </geometry>
    </visual>
    <collision>
      <origin xyz="-0.00051 0. -0.035 " rpy="0. 0. 0."/>
      <geometry>
        <sphere radius="0.015"/>
      </geometry>
    </collision>
    <collision>
      <origin xyz="-0.00051 0. 0.035 " rpy="0. 0. 0."/>
      <geometry>
        <sphere radius="0.015"/>
      </geometry>
    </collision>
    <collision>
      <origin xyz="0. 0. 0." rpy="0. 0. 0."/>
      <geometry>
        <sphere radius="0.019"/>
      </geometry>
    </collision>
    <collision>
      <origin xyz="0. 0. 0.0175" rpy="0. 0. 0."/>
      <geometry>
        <sphere radius="0.017"/>
      </geometry>
    </collision>
    <collision>
      <origin xyz="0. 0. -0.0175" rpy="0. 0. 0."/>
      <geometry>
        <sphere radius="0.017"/>
      </geometry>
    </collision>
  </link>
  <link name="front_left_roller6_link">
    <inertial>
      <origin xyz="0. 0. 0." rpy="0. 0. 0."/>
      <mass value="0.0141372"/>
      <inertia ixx="0." ixy="0." ixz="0." iyy="0." iyz="0." izz="0."/>
    </inertial>
    <visual>
      <origin xyz="-0.00051 0. -0.035 " rpy="0. 0. 0."/>
      <geometry>
        <sphere radius="0.015"/>
      </geometry>
    </visual>
    <visual>
      <origin xyz="-0.00051 0. 0.035 " rpy="0. 0. 0."/>
      <geometry>
        <sphere radius="0.015"/>
      </geometry>
    </visual>
    <visual>
      <origin xyz="0. 0. 0." rpy="0. 0. 0."/>
      <geometry>
        <sphere radius="0.019"/>
      </geometry>
    </visual>
    <visual>
      <origin xyz="0. 0. 0.0175" rpy="0. 0. 0."/>
      <geometry>
        <sphere radius="0.017"/>
      </geometry>
    </visual>
    <visual>
      <origin xyz="0. 0. -0.0175" rpy="0. 0. 0."/>
      <geometry>
        <sphere radius="0.017"/>
      </geometry>
    </visual>
    <collision>
      <origin xyz="-0.00051 0. -0.035 " rpy="0. 0. 0."/>
      <geometry>
        <sphere radius="0.015"/>
      </geometry>
    </collision>
    <collision>
      <origin xyz="-0.00051 0. 0.035 " rpy="0. 0. 0."/>
      <geometry>
        <sphere radius="0.015"/>
      </geometry>
    </collision>
    <collision>
      <origin xyz="0. 0. 0." rpy="0. 0. 0."/>
      <geometry>
        <sphere radius="0.019"/>
      </geometry>
    </collision>
    <collision>
      <origin xyz="0. 0. 0.0175" rpy="0. 0. 0."/>
      <geometry>
        <sphere radius="0.017"/>
      </geometry>
    </collision>
    <collision>
      <origin xyz="0. 0. -0.0175" rpy="0. 0. 0."/>
      <geometry>
        <sphere radius="0.017"/>
      </geometry>
    </collision>
  </link>
  <link name="front_left_roller7_link">
    <inertial>
      <origin xyz="0. 0. 0." rpy="0. 0. 0."/>
      <mass value="0.0141372"/>
      <inertia ixx="0." ixy="0." ixz="0." iyy="0." iyz="0." izz="0."/>
    </inertial>
    <visual>
      <origin xyz="-0.00051 0. -0.035 " rpy="0. 0. 0."/>
      <geometry>
        <sphere radius="0.015"/>
      </geometry>
    </visual>
    <visual>
      <origin xyz="-0.00051 0. 0.035 " rpy="0. 0. 0."/>
      <geometry>
        <sphere radius="0.015"/>
      </geometry>
    </visual>
    <visual>
      <origin xyz="0. 0. 0." rpy="0. 0. 0."/>
      <geometry>
        <sphere radius="0.019"/>
      </geometry>
    </visual>
    <visual>
      <origin xyz="0. 0. 0.0175" rpy="0. 0. 0."/>
      <geometry>
        <sphere radius="0.017"/>
      </geometry>
    </visual>
    <visual>
      <origin xyz="0. 0. -0.0175" rpy="0. 0. 0."/>
      <geometry>
        <sphere radius="0.017"/>
      </geometry>
    </visual>
    <collision>
      <origin xyz="-0.00051 0. -0.035 " rpy="0. 0. 0."/>
      <geometry>
        <sphere radius="0.015"/>
      </geometry>
    </collision>
    <collision>
      <origin xyz="-0.00051 0. 0.035 " rpy="0. 0. 0."/>
      <geometry>
        <sphere radius="0.015"/>
      </geometry>
    </collision>
    <collision>
      <origin xyz="0. 0. 0." rpy="0. 0. 0."/>
      <geometry>
        <sphere radius="0.019"/>
      </geometry>
    </collision>
    <collision>
      <origin xyz="0. 0. 0.0175" rpy="0. 0. 0."/>
      <geometry>
        <sphere radius="0.017"/>
      </geometry>
    </collision>
    <collision>
      <origin xyz="0. 0. -0.0175" rpy="0. 0. 0."/>
      <geometry>
        <sphere radius="0.017"/>
      </geometry>
    </collision>
  </link>
  <link name="front_left_roller8_link">
    <inertial>
      <origin xyz="0. 0. 0." rpy="0. 0. 0."/>
      <mass value="0.0141372"/>
      <inertia ixx="0." ixy="0." ixz="0." iyy="0." iyz="0." izz="0."/>
    </inertial>
    <visual>
      <origin xyz="-0.00051 0. -0.035 " rpy="0. 0. 0."/>
      <geometry>
        <sphere radius="0.015"/>
      </geometry>
    </visual>
    <visual>
      <origin xyz="-0.00051 0. 0.035 " rpy="0. 0. 0."/>
      <geometry>
        <sphere radius="0.015"/>
      </geometry>
    </visual>
    <visual>
      <origin xyz="0. 0. 0." rpy="0. 0. 0."/>
      <geometry>
        <sphere radius="0.019"/>
      </geometry>
    </visual>
    <visual>
      <origin xyz="0. 0. 0.0175" rpy="0. 0. 0."/>
      <geometry>
        <sphere radius="0.017"/>
      </geometry>
    </visual>
    <visual>
      <origin xyz="0. 0. -0.0175" rpy="0. 0. 0."/>
      <geometry>
        <sphere radius="0.017"/>
      </geometry>
    </visual>
    <collision>
      <origin xyz="-0.00051 0. -0.035 " rpy="0. 0. 0."/>
      <geometry>
        <sphere radius="0.015"/>
      </geometry>
    </collision>
    <collision>
      <origin xyz="-0.00051 0. 0.035 " rpy="0. 0. 0."/>
      <geometry>
        <sphere radius="0.015"/>
      </geometry>
    </collision>
    <collision>
      <origin xyz="0. 0. 0." rpy="0. 0. 0."/>
      <geometry>
        <sphere radius="0.019"/>
      </geometry>
    </collision>
    <collision>
      <origin xyz="0. 0. 0.0175" rpy="0. 0. 0."/>
      <geometry>
        <sphere radius="0.017"/>
      </geometry>
    </collision>
    <collision>
      <origin xyz="0. 0. -0.0175" rpy="0. 0. 0."/>
      <geometry>
        <sphere radius="0.017"/>
      </geometry>
    </collision>
  </link>
  <link name="front_left_roller9_link">
    <inertial>
      <origin xyz="0. 0. 0." rpy="0. 0. 0."/>
      <mass value="0.0141372"/>
      <inertia ixx="0." ixy="0." ixz="0." iyy="0." iyz="0." izz="0."/>
    </inertial>
    <visual>
      <origin xyz="-0.00051 0. -0.035 " rpy="0. 0. 0."/>
      <geometry>
        <sphere radius="0.015"/>
      </geometry>
    </visual>
    <visual>
      <origin xyz="-0.00051 0. 0.035 " rpy="0. 0. 0."/>
      <geometry>
        <sphere radius="0.015"/>
      </geometry>
    </visual>
    <visual>
      <origin xyz="0. 0. 0." rpy="0. 0. 0."/>
      <geometry>
        <sphere radius="0.019"/>
      </geometry>
    </visual>
    <visual>
      <origin xyz="0. 0. 0.0175" rpy="0. 0. 0."/>
      <geometry>
        <sphere radius="0.017"/>
      </geometry>
    </visual>
    <visual>
      <origin xyz="0. 0. -0.0175" rpy="0. 0. 0."/>
      <geometry>
        <sphere radius="0.017"/>
      </geometry>
    </visual>
    <collision>
      <origin xyz="-0.00051 0. -0.035 " rpy="0. 0. 0."/>
      <geometry>
        <sphere radius="0.015"/>
      </geometry>
    </collision>
    <collision>
      <origin xyz="-0.00051 0. 0.035 " rpy="0. 0. 0."/>
      <geometry>
        <sphere radius="0.015"/>
      </geometry>
    </collision>
    <collision>
      <origin xyz="0. 0. 0." rpy="0. 0. 0."/>
      <geometry>
        <sphere radius="0.019"/>
      </geometry>
    </collision>
    <collision>
      <origin xyz="0. 0. 0.0175" rpy="0. 0. 0."/>
      <geometry>
        <sphere radius="0.017"/>
      </geometry>
    </collision>
    <collision>
      <origin xyz="0. 0. -0.0175" rpy="0. 0. 0."/>
      <geometry>
        <sphere radius="0.017"/>
      </geometry>
    </collision>
  </link>
  <link name="front_right_roller10_link">
    <inertial>
      <origin xyz="0. 0. 0." rpy="0. 0. 0."/>
      <mass value="0.0141372"/>
      <inertia ixx="0." ixy="0." ixz="0." iyy="0." iyz="0." izz="0."/>
    </inertial>
    <visual>
      <origin xyz="-0.00051 0. -0.035 " rpy="0. 0. 0."/>
      <geometry>
        <sphere radius="0.015"/>
      </geometry>
    </visual>
    <visual>
      <origin xyz="-0.00051 0. 0.035 " rpy="0. 0. 0."/>
      <geometry>
        <sphere radius="0.015"/>
      </geometry>
    </visual>
    <visual>
      <origin xyz="0. 0. 0." rpy="0. 0. 0."/>
      <geometry>
        <sphere radius="0.019"/>
      </geometry>
    </visual>
    <visual>
      <origin xyz="0. 0. 0.0175" rpy="0. 0. 0."/>
      <geometry>
        <sphere radius="0.017"/>
      </geometry>
    </visual>
    <visual>
      <origin xyz="0. 0. -0.0175" rpy="0. 0. 0."/>
      <geometry>
        <sphere radius="0.017"/>
      </geometry>
    </visual>
    <collision>
      <origin xyz="-0.00051 0. -0.035 " rpy="0. 0. 0."/>
      <geometry>
        <sphere radius="0.015"/>
      </geometry>
    </collision>
    <collision>
      <origin xyz="-0.00051 0. 0.035 " rpy="0. 0. 0."/>
      <geometry>
        <sphere radius="0.015"/>
      </geometry>
    </collision>
    <collision>
      <origin xyz="0. 0. 0." rpy="0. 0. 0."/>
      <geometry>
        <sphere radius="0.019"/>
      </geometry>
    </collision>
    <collision>
      <origin xyz="0. 0. 0.0175" rpy="0. 0. 0."/>
      <geometry>
        <sphere radius="0.017"/>
      </geometry>
    </collision>
    <collision>
      <origin xyz="0. 0. -0.0175" rpy="0. 0. 0."/>
      <geometry>
        <sphere radius="0.017"/>
      </geometry>
    </collision>
  </link>
  <link name="front_right_roller11_link">
    <inertial>
      <origin xyz="0. 0. 0." rpy="0. 0. 0."/>
      <mass value="0.0141372"/>
      <inertia ixx="0." ixy="0." ixz="0." iyy="0." iyz="0." izz="0."/>
    </inertial>
    <visual>
      <origin xyz="-0.00051 0. -0.035 " rpy="0. 0. 0."/>
      <geometry>
        <sphere radius="0.015"/>
      </geometry>
    </visual>
    <visual>
      <origin xyz="-0.00051 0. 0.035 " rpy="0. 0. 0."/>
      <geometry>
        <sphere radius="0.015"/>
      </geometry>
    </visual>
    <visual>
      <origin xyz="0. 0. 0." rpy="0. 0. 0."/>
      <geometry>
        <sphere radius="0.019"/>
      </geometry>
    </visual>
    <visual>
      <origin xyz="0. 0. 0.0175" rpy="0. 0. 0."/>
      <geometry>
        <sphere radius="0.017"/>
      </geometry>
    </visual>
    <visual>
      <origin xyz="0. 0. -0.0175" rpy="0. 0. 0."/>
      <geometry>
        <sphere radius="0.017"/>
      </geometry>
    </visual>
    <collision>
      <origin xyz="-0.00051 0. -0.035 " rpy="0. 0. 0."/>
      <geometry>
        <sphere radius="0.015"/>
      </geometry>
    </collision>
    <collision>
      <origin xyz="-0.00051 0. 0.035 " rpy="0. 0. 0."/>
      <geometry>
        <sphere radius="0.015"/>
      </geometry>
    </collision>
    <collision>
      <origin xyz="0. 0. 0." rpy="0. 0. 0."/>
      <geometry>
        <sphere radius="0.019"/>
      </geometry>
    </collision>
    <collision>
      <origin xyz="0. 0. 0.0175" rpy="0. 0. 0."/>
      <geometry>
        <sphere radius="0.017"/>
      </geometry>
    </collision>
    <collision>
      <origin xyz="0. 0. -0.0175" rpy="0. 0. 0."/>
      <geometry>
        <sphere radius="0.017"/>
      </geometry>
    </collision>
  </link>
  <link name="front_right_roller12_link">
    <inertial>
      <origin xyz="0. 0. 0." rpy="0. 0. 0."/>
      <mass value="0.0141372"/>
      <inertia ixx="0." ixy="0." ixz="0." iyy="0." iyz="0." izz="0."/>
    </inertial>
    <visual>
      <origin xyz="-0.00051 0. -0.035 " rpy="0. 0. 0."/>
      <geometry>
        <sphere radius="0.015"/>
      </geometry>
    </visual>
    <visual>
      <origin xyz="-0.00051 0. 0.035 " rpy="0. 0. 0."/>
      <geometry>
        <sphere radius="0.015"/>
      </geometry>
    </visual>
    <visual>
      <origin xyz="0. 0. 0." rpy="0. 0. 0."/>
      <geometry>
        <sphere radius="0.019"/>
      </geometry>
    </visual>
    <visual>
      <origin xyz="0. 0. 0.0175" rpy="0. 0. 0."/>
      <geometry>
        <sphere radius="0.017"/>
      </geometry>
    </visual>
    <visual>
      <origin xyz="0. 0. -0.0175" rpy="0. 0. 0."/>
      <geometry>
        <sphere radius="0.017"/>
      </geometry>
    </visual>
    <collision>
      <origin xyz="-0.00051 0. -0.035 " rpy="0. 0. 0."/>
      <geometry>
        <sphere radius="0.015"/>
      </geometry>
    </collision>
    <collision>
      <origin xyz="-0.00051 0. 0.035 " rpy="0. 0. 0."/>
      <geometry>
        <sphere radius="0.015"/>
      </geometry>
    </collision>
    <collision>
      <origin xyz="0. 0. 0." rpy="0. 0. 0."/>
      <geometry>
        <sphere radius="0.019"/>
      </geometry>
    </collision>
    <collision>
      <origin xyz="0. 0. 0.0175" rpy="0. 0. 0."/>
      <geometry>
        <sphere radius="0.017"/>
      </geometry>
    </collision>
    <collision>
      <origin xyz="0. 0. -0.0175" rpy="0. 0. 0."/>
      <geometry>
        <sphere radius="0.017"/>
      </geometry>
    </collision>
  </link>
  <link name="front_right_roller1_link">
    <inertial>
      <origin xyz="0. 0. 0." rpy="0. 0. 0."/>
      <mass value="0.0141372"/>
      <inertia ixx="0." ixy="0." ixz="0." iyy="0." iyz="0." izz="0."/>
    </inertial>
    <visual>
      <origin xyz="-0.00051 0. -0.035 " rpy="0. 0. 0."/>
      <geometry>
        <sphere radius="0.015"/>
      </geometry>
    </visual>
    <visual>
      <origin xyz="-0.00051 0. 0.035 " rpy="0. 0. 0."/>
      <geometry>
        <sphere radius="0.015"/>
      </geometry>
    </visual>
    <visual>
      <origin xyz="0. 0. 0." rpy="0. 0. 0."/>
      <geometry>
        <sphere radius="0.019"/>
      </geometry>
    </visual>
    <visual>
      <origin xyz="0. 0. 0.0175" rpy="0. 0. 0."/>
      <geometry>
        <sphere radius="0.017"/>
      </geometry>
    </visual>
    <visual>
      <origin xyz="0. 0. -0.0175" rpy="0. 0. 0."/>
      <geometry>
        <sphere radius="0.017"/>
      </geometry>
    </visual>
    <collision>
      <origin xyz="-0.00051 0. -0.035 " rpy="0. 0. 0."/>
      <geometry>
        <sphere radius="0.015"/>
      </geometry>
    </collision>
    <collision>
      <origin xyz="-0.00051 0. 0.035 " rpy="0. 0. 0."/>
      <geometry>
        <sphere radius="0.015"/>
      </geometry>
    </collision>
    <collision>
      <origin xyz="0. 0. 0." rpy="0. 0. 0."/>
      <geometry>
        <sphere radius="0.019"/>
      </geometry>
    </collision>
    <collision>
      <origin xyz="0. 0. 0.0175" rpy="0. 0. 0."/>
      <geometry>
        <sphere radius="0.017"/>
      </geometry>
    </collision>
    <collision>
      <origin xyz="0. 0. -0.0175" rpy="0. 0. 0."/>
      <geometry>
        <sphere radius="0.017"/>
      </geometry>
    </collision>
  </link>
  <link name="front_right_roller2_link">
    <inertial>
      <origin xyz="0. 0. 0." rpy="0. 0. 0."/>
      <mass value="0.0141372"/>
      <inertia ixx="0." ixy="0." ixz="0." iyy="0." iyz="0." izz="0."/>
    </inertial>
    <visual>
      <origin xyz="-0.00051 0. -0.035 " rpy="0. 0. 0."/>
      <geometry>
        <sphere radius="0.015"/>
      </geometry>
    </visual>
    <visual>
      <origin xyz="-0.00051 0. 0.035 " rpy="0. 0. 0."/>
      <geometry>
        <sphere radius="0.015"/>
      </geometry>
    </visual>
    <visual>
      <origin xyz="0. 0. 0." rpy="0. 0. 0."/>
      <geometry>
        <sphere radius="0.019"/>
      </geometry>
    </visual>
    <visual>
      <origin xyz="0. 0. 0.0175" rpy="0. 0. 0."/>
      <geometry>
        <sphere radius="0.017"/>
      </geometry>
    </visual>
    <visual>
      <origin xyz="0. 0. -0.0175" rpy="0. 0. 0."/>
      <geometry>
        <sphere radius="0.017"/>
      </geometry>
    </visual>
    <collision>
      <origin xyz="-0.00051 0. -0.035 " rpy="0. 0. 0."/>
      <geometry>
        <sphere radius="0.015"/>
      </geometry>
    </collision>
    <collision>
      <origin xyz="-0.00051 0. 0.035 " rpy="0. 0. 0."/>
      <geometry>
        <sphere radius="0.015"/>
      </geometry>
    </collision>
    <collision>
      <origin xyz="0. 0. 0." rpy="0. 0. 0."/>
      <geometry>
        <sphere radius="0.019"/>
      </geometry>
    </collision>
    <collision>
      <origin xyz="0. 0. 0.0175" rpy="0. 0. 0."/>
      <geometry>
        <sphere radius="0.017"/>
      </geometry>
    </collision>
    <collision>
      <origin xyz="0. 0. -0.0175" rpy="0. 0. 0."/>
      <geometry>
        <sphere radius="0.017"/>
      </geometry>
    </collision>
  </link>
  <link name="front_right_roller3_link">
    <inertial>
      <origin xyz="0. 0. 0." rpy="0. 0. 0."/>
      <mass value="0.0141372"/>
      <inertia ixx="0." ixy="0." ixz="0." iyy="0." iyz="0." izz="0."/>
    </inertial>
    <visual>
      <origin xyz="-0.00051 0. -0.035 " rpy="0. 0. 0."/>
      <geometry>
        <sphere radius="0.015"/>
      </geometry>
    </visual>
    <visual>
      <origin xyz="-0.00051 0. 0.035 " rpy="0. 0. 0."/>
      <geometry>
        <sphere radius="0.015"/>
      </geometry>
    </visual>
    <visual>
      <origin xyz="0. 0. 0." rpy="0. 0. 0."/>
      <geometry>
        <sphere radius="0.019"/>
      </geometry>
    </visual>
    <visual>
      <origin xyz="0. 0. 0.0175" rpy="0. 0. 0."/>
      <geometry>
        <sphere radius="0.017"/>
      </geometry>
    </visual>
    <visual>
      <origin xyz="0. 0. -0.0175" rpy="0. 0. 0."/>
      <geometry>
        <sphere radius="0.017"/>
      </geometry>
    </visual>
    <collision>
      <origin xyz="-0.00051 0. -0.035 " rpy="0. 0. 0."/>
      <geometry>
        <sphere radius="0.015"/>
      </geometry>
    </collision>
    <collision>
      <origin xyz="-0.00051 0. 0.035 " rpy="0. 0. 0."/>
      <geometry>
        <sphere radius="0.015"/>
      </geometry>
    </collision>
    <collision>
      <origin xyz="0. 0. 0." rpy="0. 0. 0."/>
      <geometry>
        <sphere radius="0.019"/>
      </geometry>
    </collision>
    <collision>
      <origin xyz="0. 0. 0.0175" rpy="0. 0. 0."/>
      <geometry>
        <sphere radius="0.017"/>
      </geometry>
    </collision>
    <collision>
      <origin xyz="0. 0. -0.0175" rpy="0. 0. 0."/>
      <geometry>
        <sphere radius="0.017"/>
      </geometry>
    </collision>
  </link>
  <link name="front_right_roller4_link">
    <inertial>
      <origin xyz="0. 0. 0." rpy="0. 0. 0."/>
      <mass value="0.0141372"/>
      <inertia ixx="0." ixy="0." ixz="0." iyy="0." iyz="0." izz="0."/>
    </inertial>
    <visual>
      <origin xyz="-0.00051 0. -0.035 " rpy="0. 0. 0."/>
      <geometry>
        <sphere radius="0.015"/>
      </geometry>
    </visual>
    <visual>
      <origin xyz="-0.00051 0. 0.035 " rpy="0. 0. 0."/>
      <geometry>
        <sphere radius="0.015"/>
      </geometry>
    </visual>
    <visual>
      <origin xyz="0. 0. 0." rpy="0. 0. 0."/>
      <geometry>
        <sphere radius="0.019"/>
      </geometry>
    </visual>
    <visual>
      <origin xyz="0. 0. 0.0175" rpy="0. 0. 0."/>
      <geometry>
        <sphere radius="0.017"/>
      </geometry>
    </visual>
    <visual>
      <origin xyz="0. 0. -0.0175" rpy="0. 0. 0."/>
      <geometry>
        <sphere radius="0.017"/>
      </geometry>
    </visual>
    <collision>
      <origin xyz="-0.00051 0. -0.035 " rpy="0. 0. 0."/>
      <geometry>
        <sphere radius="0.015"/>
      </geometry>
    </collision>
    <collision>
      <origin xyz="-0.00051 0. 0.035 " rpy="0. 0. 0."/>
      <geometry>
        <sphere radius="0.015"/>
      </geometry>
    </collision>
    <collision>
      <origin xyz="0. 0. 0." rpy="0. 0. 0."/>
      <geometry>
        <sphere radius="0.019"/>
      </geometry>
    </collision>
    <collision>
      <origin xyz="0. 0. 0.0175" rpy="0. 0. 0."/>
      <geometry>
        <sphere radius="0.017"/>
      </geometry>
    </collision>
    <collision>
      <origin xyz="0. 0. -0.0175" rpy="0. 0. 0."/>
      <geometry>
        <sphere radius="0.017"/>
      </geometry>
    </collision>
  </link>
  <link name="front_right_roller5_link">
    <inertial>
      <origin xyz="0. 0. 0." rpy="0. 0. 0."/>
      <mass value="0.0141372"/>
      <inertia ixx="0." ixy="0." ixz="0." iyy="0." iyz="0." izz="0."/>
    </inertial>
    <visual>
      <origin xyz="-0.00051 0. -0.035 " rpy="0. 0. 0."/>
      <geometry>
        <sphere radius="0.015"/>
      </geometry>
    </visual>
    <visual>
      <origin xyz="-0.00051 0. 0.035 " rpy="0. 0. 0."/>
      <geometry>
        <sphere radius="0.015"/>
      </geometry>
    </visual>
    <visual>
      <origin xyz="0. 0. 0." rpy="0. 0. 0."/>
      <geometry>
        <sphere radius="0.019"/>
      </geometry>
    </visual>
    <visual>
      <origin xyz="0. 0. 0.0175" rpy="0. 0. 0."/>
      <geometry>
        <sphere radius="0.017"/>
      </geometry>
    </visual>
    <visual>
      <origin xyz="0. 0. -0.0175" rpy="0. 0. 0."/>
      <geometry>
        <sphere radius="0.017"/>
      </geometry>
    </visual>
    <collision>
      <origin xyz="-0.00051 0. -0.035 " rpy="0. 0. 0."/>
      <geometry>
        <sphere radius="0.015"/>
      </geometry>
    </collision>
    <collision>
      <origin xyz="-0.00051 0. 0.035 " rpy="0. 0. 0."/>
      <geometry>
        <sphere radius="0.015"/>
      </geometry>
    </collision>
    <collision>
      <origin xyz="0. 0. 0." rpy="0. 0. 0."/>
      <geometry>
        <sphere radius="0.019"/>
      </geometry>
    </collision>
    <collision>
      <origin xyz="0. 0. 0.0175" rpy="0. 0. 0."/>
      <geometry>
        <sphere radius="0.017"/>
      </geometry>
    </collision>
    <collision>
      <origin xyz="0. 0. -0.0175" rpy="0. 0. 0."/>
      <geometry>
        <sphere radius="0.017"/>
      </geometry>
    </collision>
  </link>
  <link name="front_right_roller6_link">
    <inertial>
      <origin xyz="0. 0. 0." rpy="0. 0. 0."/>
      <mass value="0.0141372"/>
      <inertia ixx="0." ixy="0." ixz="0." iyy="0." iyz="0." izz="0."/>
    </inertial>
    <visual>
      <origin xyz="-0.00051 0. -0.035 " rpy="0. 0. 0."/>
      <geometry>
        <sphere radius="0.015"/>
      </geometry>
    </visual>
    <visual>
      <origin xyz="-0.00051 0. 0.035 " rpy="0. 0. 0."/>
      <geometry>
        <sphere radius="0.015"/>
      </geometry>
    </visual>
    <visual>
      <origin xyz="0. 0. 0." rpy="0. 0. 0."/>
      <geometry>
        <sphere radius="0.019"/>
      </geometry>
    </visual>
    <visual>
      <origin xyz="0. 0. 0.0175" rpy="0. 0. 0."/>
      <geometry>
        <sphere radius="0.017"/>
      </geometry>
    </visual>
    <visual>
      <origin xyz="0. 0. -0.0175" rpy="0. 0. 0."/>
      <geometry>
        <sphere radius="0.017"/>
      </geometry>
    </visual>
    <collision>
      <origin xyz="-0.00051 0. -0.035 " rpy="0. 0. 0."/>
      <geometry>
        <sphere radius="0.015"/>
      </geometry>
    </collision>
    <collision>
      <origin xyz="-0.00051 0. 0.035 " rpy="0. 0. 0."/>
      <geometry>
        <sphere radius="0.015"/>
      </geometry>
    </collision>
    <collision>
      <origin xyz="0. 0. 0." rpy="0. 0. 0."/>
      <geometry>
        <sphere radius="0.019"/>
      </geometry>
    </collision>
    <collision>
      <origin xyz="0. 0. 0.0175" rpy="0. 0. 0."/>
      <geometry>
        <sphere radius="0.017"/>
      </geometry>
    </collision>
    <collision>
      <origin xyz="0. 0. -0.0175" rpy="0. 0. 0."/>
      <geometry>
        <sphere radius="0.017"/>
      </geometry>
    </collision>
  </link>
  <link name="front_right_roller7_link">
    <inertial>
      <origin xyz="0. 0. 0." rpy="0. 0. 0."/>
      <mass value="0.0141372"/>
      <inertia ixx="0." ixy="0." ixz="0." iyy="0." iyz="0." izz="0."/>
    </inertial>
    <visual>
      <origin xyz="-0.00051 0. -0.035 " rpy="0. 0. 0."/>
      <geometry>
        <sphere radius="0.015"/>
      </geometry>
    </visual>
    <visual>
      <origin xyz="-0.00051 0. 0.035 " rpy="0. 0. 0."/>
      <geometry>
        <sphere radius="0.015"/>
      </geometry>
    </visual>
    <visual>
      <origin xyz="0. 0. 0." rpy="0. 0. 0."/>
      <geometry>
        <sphere radius="0.019"/>
      </geometry>
    </visual>
    <visual>
      <origin xyz="0. 0. 0.0175" rpy="0. 0. 0."/>
      <geometry>
        <sphere radius="0.017"/>
      </geometry>
    </visual>
    <visual>
      <origin xyz="0. 0. -0.0175" rpy="0. 0. 0."/>
      <geometry>
        <sphere radius="0.017"/>
      </geometry>
    </visual>
    <collision>
      <origin xyz="-0.00051 0. -0.035 " rpy="0. 0. 0."/>
      <geometry>
        <sphere radius="0.015"/>
      </geometry>
    </collision>
    <collision>
      <origin xyz="-0.00051 0. 0.035 " rpy="0. 0. 0."/>
      <geometry>
        <sphere radius="0.015"/>
      </geometry>
    </collision>
    <collision>
      <origin xyz="0. 0. 0." rpy="0. 0. 0."/>
      <geometry>
        <sphere radius="0.019"/>
      </geometry>
    </collision>
    <collision>
      <origin xyz="0. 0. 0.0175" rpy="0. 0. 0."/>
      <geometry>
        <sphere radius="0.017"/>
      </geometry>
    </collision>
    <collision>
      <origin xyz="0. 0. -0.0175" rpy="0. 0. 0."/>
      <geometry>
        <sphere radius="0.017"/>
      </geometry>
    </collision>
  </link>
  <link name="front_right_roller8_link">
    <inertial>
      <origin xyz="0. 0. 0." rpy="0. 0. 0."/>
      <mass value="0.0141372"/>
      <inertia ixx="0." ixy="0." ixz="0." iyy="0." iyz="0." izz="0."/>
    </inertial>
    <visual>
      <origin xyz="-0.00051 0. -0.035 " rpy="0. 0. 0."/>
      <geometry>
        <sphere radius="0.015"/>
      </geometry>
    </visual>
    <visual>
      <origin xyz="-0.00051 0. 0.035 " rpy="0. 0. 0."/>
      <geometry>
        <sphere radius="0.015"/>
      </geometry>
    </visual>
    <visual>
      <origin xyz="0. 0. 0." rpy="0. 0. 0."/>
      <geometry>
        <sphere radius="0.019"/>
      </geometry>
    </visual>
    <visual>
      <origin xyz="0. 0. 0.0175" rpy="0. 0. 0."/>
      <geometry>
        <sphere radius="0.017"/>
      </geometry>
    </visual>
    <visual>
      <origin xyz="0. 0. -0.0175" rpy="0. 0. 0."/>
      <geometry>
        <sphere radius="0.017"/>
      </geometry>
    </visual>
    <collision>
      <origin xyz="-0.00051 0. -0.035 " rpy="0. 0. 0."/>
      <geometry>
        <sphere radius="0.015"/>
      </geometry>
    </collision>
    <collision>
      <origin xyz="-0.00051 0. 0.035 " rpy="0. 0. 0."/>
      <geometry>
        <sphere radius="0.015"/>
      </geometry>
    </collision>
    <collision>
      <origin xyz="0. 0. 0." rpy="0. 0. 0."/>
      <geometry>
        <sphere radius="0.019"/>
      </geometry>
    </collision>
    <collision>
      <origin xyz="0. 0. 0.0175" rpy="0. 0. 0."/>
      <geometry>
        <sphere radius="0.017"/>
      </geometry>
    </collision>
    <collision>
      <origin xyz="0. 0. -0.0175" rpy="0. 0. 0."/>
      <geometry>
        <sphere radius="0.017"/>
      </geometry>
    </collision>
  </link>
  <link name="front_right_roller9_link">
    <inertial>
      <origin xyz="0. 0. 0." rpy="0. 0. 0."/>
      <mass value="0.0141372"/>
      <inertia ixx="0." ixy="0." ixz="0." iyy="0." iyz="0." izz="0."/>
    </inertial>
    <visual>
      <origin xyz="-0.00051 0. -0.035 " rpy="0. 0. 0."/>
      <geometry>
        <sphere radius="0.015"/>
      </geometry>
    </visual>
    <visual>
      <origin xyz="-0.00051 0. 0.035 " rpy="0. 0. 0."/>
      <geometry>
        <sphere radius="0.015"/>
      </geometry>
    </visual>
    <visual>
      <origin xyz="0. 0. 0." rpy="0. 0. 0."/>
      <geometry>
        <sphere radius="0.019"/>
      </geometry>
    </visual>
    <visual>
      <origin xyz="0. 0. 0.0175" rpy="0. 0. 0."/>
      <geometry>
        <sphere radius="0.017"/>
      </geometry>
    </visual>
    <visual>
      <origin xyz="0. 0. -0.0175" rpy="0. 0. 0."/>
      <geometry>
        <sphere radius="0.017"/>
      </geometry>
    </visual>
    <collision>
      <origin xyz="-0.00051 0. -0.035 " rpy="0. 0. 0."/>
      <geometry>
        <sphere radius="0.015"/>
      </geometry>
    </collision>
    <collision>
      <origin xyz="-0.00051 0. 0.035 " rpy="0. 0. 0."/>
      <geometry>
        <sphere radius="0.015"/>
      </geometry>
    </collision>
    <collision>
      <origin xyz="0. 0. 0." rpy="0. 0. 0."/>
      <geometry>
        <sphere radius="0.019"/>
      </geometry>
    </collision>
    <collision>
      <origin xyz="0. 0. 0.0175" rpy="0. 0. 0."/>
      <geometry>
        <sphere radius="0.017"/>
      </geometry>
    </collision>
    <collision>
      <origin xyz="0. 0. -0.0175" rpy="0. 0. 0."/>
      <geometry>
        <sphere radius="0.017"/>
      </geometry>
    </collision>
  </link>
  <link name="panda_leftfinger">
    <inertial>
      <origin xyz="0. 0. 0." rpy="0. 0. 0."/>
      <mass value="0.0140552"/>
      <inertia ixx="0." ixy="0." ixz="0." iyy="0." iyz="0." izz="0."/>
    </inertial>
    <visual>
      <origin xyz="0. 0. 0." rpy="0. 0. -1.5707964"/>
      <geometry>
        <mesh filename="package://robot_description/meshes/panda_leftfinger_geometry_ID27.obj" scale="1. 1. 1."/>
      </geometry>
    </visual>
    <visual>
      <origin xyz="0. 0. 0." rpy="0. 0. -1.5707964"/>
      <geometry>
        <mesh filename="package://robot_description/meshes/panda_leftfinger_geometry_ID27fa3.obj" scale="1. 1. 1."/>
      </geometry>
    </visual>
    <visual>
      <origin xyz="0. 0. 0." rpy="0. 0. -1.5707964"/>
      <geometry>
        <mesh filename="package://robot_description/meshes/panda_leftfinger_geometry_ID27SVM.obj" scale="1. 1. 1."/>
      </geometry>
    </visual>
    <collision>
      <origin xyz="0. 0. 0." rpy="0. 0. -1.5707964"/>
      <geometry>
        <mesh filename="package://robot_description/meshes/panda_leftfinger_geometry_ID27.obj" scale="1. 1. 1."/>
      </geometry>
    </collision>
    <collision>
      <origin xyz="0. 0. 0." rpy="0. 0. -1.5707964"/>
      <geometry>
        <mesh filename="package://robot_description/meshes/panda_leftfinger_geometry_ID27SVM.obj" scale="1. 1. 1."/>
      </geometry>
    </collision>
  </link>
  <link name="panda_link0">
    <inertial>
      <origin xyz="0. 0. 0." rpy="0. 0. 0."/>
      <mass value="2.8142028"/>
      <inertia ixx="0." ixy="0." ixz="0." iyy="0." iyz="0." izz="0."/>
    </inertial>
    <visual>
      <origin xyz="-0. -0. -0.0000001" rpy="0. 0. -1.5692037"/>
      <geometry>
        <mesh filename="package://robot_description/meshes/panda_link0_geometry_ID3_000.obj" scale="1. 1. 1."/>
      </geometry>
    </visual>
    <visual>
      <origin xyz="-0. -0. -0.0000001" rpy="0. 0. -1.5692037"/>
      <geometry>
        <mesh filename="package://robot_description/meshes/ID3_000frA.obj" scale="1. 1. 1."/>
      </geometry>
    </visual>
    <visual>
      <origin xyz="-0. -0. -0.0000001" rpy="0. 0. -1.5692037"/>
      <geometry>
        <mesh filename="package://robot_description/meshes/ID3_000jEI.obj" scale="1. 1. 1."/>
      </geometry>
    </visual>
    <visual>
      <origin xyz="-0. -0. -0.0000001" rpy="0. 0. -1.5692037"/>
      <geometry>
        <mesh filename="package://robot_description/meshes/ID3_000m4u.obj" scale="1. 1. 1."/>
      </geometry>
    </visual>
    <visual>
      <origin xyz="-0. -0. -0.0000001" rpy="0. 0. -1.5692037"/>
      <geometry>
        <mesh filename="package://robot_description/meshes/ID3_000pR3.obj" scale="1. 1. 1."/>
      </geometry>
    </visual>
    <collision>
      <origin xyz="-0. -0. -0.0000001" rpy="0. 0. -1.5692037"/>
      <geometry>
        <mesh filename="package://robot_description/meshes/ID3_000frA.obj" scale="1. 1. 1."/>
      </geometry>
    </collision>
  </link>
  <link name="panda_link1">
    <inertial>
      <origin xyz="0. 0. 0." rpy="0. 0. 0."/>
      <mass value="2.3599997"/>
      <inertia ixx="0." ixy="0." ixz="0." iyy="0." iyz="0." izz="0."/>
    </inertial>
    <visual>
      <origin xyz="-0.192 -0. -0. " rpy="0. 1.5707961 0. "/>
      <geometry>
        <mesh filename="package://robot_description/meshes/panda_link1_geometry_ID3_000.obj" scale="1. 1. 1."/>
      </geometry>
    </visual>
    <collision>
      <origin xyz="-0.192 -0. -0. " rpy="0. 1.5707961 0. "/>
      <geometry>
        <mesh filename="package://robot_description/meshes/panda_link1_geometry_ID3_000.obj" scale="1. 1. 1."/>
      </geometry>
    </collision>
  </link>
  <link name="panda_link2">
    <inertial>
      <origin xyz="0. 0. 0." rpy="0. 0. 0."/>
      <mass value="2.3795187"/>
      <inertia ixx="0." ixy="0." ixz="0." iyy="0." iyz="0." izz="0."/>
    </inertial>
    <visual>
      <origin xyz="-0. 0. 0." rpy="-0.0000003 1.5707964 0. "/>
      <geometry>
        <mesh filename="package://robot_description/meshes/panda_link2_geometry_ID3_000.obj" scale="1. 1. 1."/>
      </geometry>
    </visual>
    <collision>
      <origin xyz="-0. 0. 0." rpy="-0.0000003 1.5707964 0. "/>
      <geometry>
        <mesh filename="package://robot_description/meshes/panda_link2_geometry_ID3_000.obj" scale="1. 1. 1."/>
      </geometry>
    </collision>
  </link>
  <link name="panda_link3">
    <inertial>
      <origin xyz="0. 0. 0." rpy="0. 0. 0."/>
      <mass value="2.6498823"/>
      <inertia ixx="0." ixy="0." ixz="0." iyy="0." iyz="0." izz="0."/>
    </inertial>
    <visual>
      <origin xyz="-0.121 0. 0. " rpy="0. 1.5707964 0. "/>
      <geometry>
        <mesh filename="package://robot_description/meshes/ID17_001.obj" scale="1. 1. 1."/>
      </geometry>
    </visual>
    <visual>
      <origin xyz="-0.121 0. 0. " rpy="0. 1.5707964 0. "/>
      <geometry>
        <mesh filename="package://robot_description/meshes/ID17_001frA.obj" scale="1. 1. 1."/>
      </geometry>
    </visual>
    <collision>
      <origin xyz="-0.121 0. 0. " rpy="0. 1.5707964 0. "/>
      <geometry>
        <mesh filename="package://robot_description/meshes/ID17_001.obj" scale="1. 1. 1."/>
      </geometry>
    </collision>
  </link>
  <link name="panda_link4">
    <inertial>
      <origin xyz="0. 0. 0." rpy="0. 0. 0."/>
      <mass value="2.6948018"/>
      <inertia ixx="0." ixy="0." ixz="0." iyy="0." iyz="0." izz="0."/>
    </inertial>
    <visual>
      <origin xyz="0. 0. 0." rpy="-3.1415927 0.0002617 -3.1415927"/>
      <geometry>
        <mesh filename="package://robot_description/meshes/ID25_000.obj" scale="1. 1. 1."/>
      </geometry>
    </visual>
    <visual>
      <origin xyz="0. 0. 0." rpy="-3.1415927 0. -3.1415927"/>
      <geometry>
        <mesh filename="package://robot_description/meshes/ID25_000frA.obj" scale="1. 1. 1."/>
      </geometry>
    </visual>
    <collision>
      <origin xyz="0. 0. 0." rpy="-3.1415927 0. -3.1415927"/>
      <geometry>
        <mesh filename="package://robot_description/meshes/ID25_000frA.obj" scale="1. 1. 1."/>
      </geometry>
    </collision>
  </link>
  <link name="panda_link5">
    <inertial>
      <origin xyz="0. 0. 0." rpy="0. 0. 0."/>
      <mass value="2.9812818"/>
      <inertia ixx="0." ixy="0." ixz="0." iyy="0." iyz="0." izz="0."/>
    </inertial>
    <visual>
      <origin xyz="-0.259 0. 0. " rpy="0. 1.5707963 0. "/>
      <geometry>
        <mesh filename="package://robot_description/meshes/ID11_000.obj" scale="1. 1. 1."/>
      </geometry>
    </visual>
    <visual>
      <origin xyz="-0.259 0. 0. " rpy="0. 1.5707963 0. "/>
      <geometry>
        <mesh filename="package://robot_description/meshes/ID11_000frA.obj" scale="1. 1. 1."/>
      </geometry>
    </visual>
    <collision>
      <origin xyz="-0.259 0. 0. " rpy="0. 1.5707963 0. "/>
      <geometry>
        <mesh filename="package://robot_description/meshes/ID11_000.obj" scale="1. 1. 1."/>
      </geometry>
    </collision>
  </link>
  <link name="panda_link6">
    <inertial>
      <origin xyz="0. 0. 0." rpy="0. 0. 0."/>
      <mass value="1.1285807"/>
      <inertia ixx="0." ixy="0." ixz="0." iyy="0." iyz="0." izz="0."/>
    </inertial>
    <visual>
      <origin xyz="-0.015 0. 0. " rpy="0. 1.5707963 0. "/>
      <geometry>
        <mesh filename="package://robot_description/meshes/ID389_001.obj" scale="1. 1. 1."/>
      </geometry>
    </visual>
    <visual>
      <origin xyz="-0.015 0. 0. " rpy="0. 1.5707963 0. "/>
      <geometry>
        <mesh filename="package://robot_description/meshes/ID389_001frA.obj" scale="1. 1. 1."/>
      </geometry>
    </visual>
    <visual>
      <origin xyz="-0.015 0. 0. " rpy="0. 1.5707963 0. "/>
      <geometry>
        <mesh filename="package://robot_description/meshes/ID389_001jEI.obj" scale="1. 1. 1."/>
      </geometry>
    </visual>
    <visual>
      <origin xyz="-0.015 0. 0. " rpy="0. 1.5707963 0. "/>
      <geometry>
        <mesh filename="package://robot_description/meshes/ID389_001m4u.obj" scale="1. 1. 1."/>
      </geometry>
    </visual>
    <visual>
      <origin xyz="-0.015 0. 0. " rpy="0. 1.5707963 0. "/>
      <geometry>
        <mesh filename="package://robot_description/meshes/ID389_001pR3.obj" scale="1. 1. 1."/>
      </geometry>
    </visual>
    <visual>
      <origin xyz="-0.015 0. 0. " rpy="0. 1.5707963 0. "/>
      <geometry>
        <mesh filename="package://robot_description/meshes/ID389_001snf.obj" scale="1. 1. 1."/>
      </geometry>
    </visual>
    <visual>
      <origin xyz="-0.015 0. 0. " rpy="0. 1.5707963 0. "/>
      <geometry>
        <mesh filename="package://robot_description/meshes/ID389_001wdn.obj" scale="1. 1. 1."/>
      </geometry>
    </visual>
    <visual>
      <origin xyz="-0.015 0. 0. " rpy="0. 1.5707963 0. "/>
      <geometry>
        <mesh filename="package://robot_description/meshes/ID389_001z0P.obj" scale="1. 1. 1."/>
      </geometry>
    </visual>
    <visual>
      <origin xyz="-0.015 0. 0. " rpy="0. 1.5707963 0. "/>
      <geometry>
        <mesh filename="package://robot_description/meshes/ID389_0012M1.obj" scale="1. 1. 1."/>
      </geometry>
    </visual>
    <collision>
      <origin xyz="-0.015 0. 0. " rpy="0. 1.5707963 0. "/>
      <geometry>
        <mesh filename="package://robot_description/meshes/ID389_001frA.obj" scale="1. 1. 1."/>
      </geometry>
    </collision>
  </link>
  <link name="panda_link7">
    <inertial>
      <origin xyz="0. 0. 0." rpy="0. 0. 0."/>
      <mass value="0.4052913"/>
      <inertia ixx="0." ixy="0." ixz="0." iyy="0." iyz="0." izz="0."/>
    </inertial>
    <visual>
      <origin xyz="0.0519999 0. -0.0000001" rpy="-1.570796 0.7853981 -1.5707958"/>
      <geometry>
        <mesh filename="package://robot_description/meshes/ID1683_001.obj" scale="1. 1. 1."/>
      </geometry>
    </visual>
    <visual>
      <origin xyz="0.0519999 0. -0.0000001" rpy="-1.570796 0.7853981 -1.5707958"/>
      <geometry>
        <mesh filename="package://robot_description/meshes/ID1683_001frA.obj" scale="1. 1. 1."/>
      </geometry>
    </visual>
    <visual>
      <origin xyz="0.0519999 0. -0.0000001" rpy="-1.570796 0.7853981 -1.5707958"/>
      <geometry>
        <mesh filename="package://robot_description/meshes/ID1683_001jEI.obj" scale="1. 1. 1."/>
      </geometry>
    </visual>
    <collision>
      <origin xyz="0.0519999 0. -0.0000001" rpy="-1.570796 0.7853981 -1.5707958"/>
      <geometry>
        <mesh filename="package://robot_description/meshes/ID1683_001.obj" scale="1. 1. 1."/>
      </geometry>
    </collision>
    <collision>
      <origin xyz="0.0519999 0. -0.0000001" rpy="-1.570796 0.7853981 -1.5707958"/>
      <geometry>
        <mesh filename="package://robot_description/meshes/ID1683_001frA.obj" scale="1. 1. 1."/>
      </geometry>
    </collision>
  </link>
  <link name="panda_link8">
    <inertial>
      <origin xyz="0. 0. 0." rpy="0. 0. 0."/>
      <mass value="0.1"/>
      <inertia ixx="0." ixy="0." ixz="0." iyy="0." iyz="0." izz="0."/>
    </inertial>
  </link>
  <link name="panda_rightfinger">
    <inertial>
      <origin xyz="0. 0. 0." rpy="0. 0. 0."/>
      <mass value="0.0140552"/>
      <inertia ixx="0." ixy="0." ixz="0." iyy="0." iyz="0." izz="0."/>
    </inertial>
    <visual>
      <origin xyz="0. 0. 0." rpy="0. 0. -1.5707964"/>
      <geometry>
        <mesh filename="package://robot_description/meshes/panda_rightfinger_geometry_ID27.obj" scale="1. 1. 1."/>
      </geometry>
    </visual>
    <visual>
      <origin xyz="0. 0. 0." rpy="0. 0. -1.5707964"/>
      <geometry>
        <mesh filename="package://robot_description/meshes/panda_rightfinger_geometry_ID27fa3.obj" scale="1. 1. 1."/>
      </geometry>
    </visual>
    <visual>
      <origin xyz="0. 0. 0." rpy="0. 0. -1.5707964"/>
      <geometry>
        <mesh filename="package://robot_description/meshes/panda_rightfinger_geometry_ID27SVM.obj" scale="1. 1. 1."/>
      </geometry>
    </visual>
    <collision>
      <origin xyz="0. 0. 0." rpy="0. 0. -1.5707964"/>
      <geometry>
        <mesh filename="package://robot_description/meshes/panda_rightfinger_geometry_ID27.obj" scale="1. 1. 1."/>
      </geometry>
    </collision>
    <collision>
      <origin xyz="0. 0. 0." rpy="0. 0. -1.5707964"/>
      <geometry>
        <mesh filename="package://robot_description/meshes/panda_rightfinger_geometry_ID27SVM.obj" scale="1. 1. 1."/>
      </geometry>
    </collision>
  </link>
  <link name="base_footprint">
    <visual>
      <origin xyz="0.0105128 -0.0236122 -0.0019743" rpy="0.0003379 -0.0016197 0.011564 "/>
      <geometry>
        <box size="0.001 0.001 0.001"/>
      </geometry>
    </visual>
    <visual>
      <origin xyz="0. 0. 0." rpy="0. 0. 0."/>
      <geometry>
        <mesh filename="package://robot_description/meshes/CollisionMesh.obj" scale="1. 1. 1."/>
      </geometry>
    </visual>
  </link>
  <link name="rbkairos_os1_mesh">
    <visual>
      <origin xyz="0. 0. 0." rpy="1.5707964 0. 1.5707964"/>
      <geometry>
        <mesh filename="package://robot_description/meshes/rbkairos_os1_mesh_os1_mesh.obj" scale="0.1 0.1 0.1"/>
      </geometry>
    </visual>
  </link>
  <link name="robot_base_chapa">
    <inertial>
      <origin xyz="0. 0. 0." rpy="0. 0. 0."/>
      <mass value="0.000001"/>
      <inertia ixx="0." ixy="0." ixz="0." iyy="0." iyz="0." izz="0."/>
    </inertial>
    <visual>
      <origin xyz="0. 0. 0." rpy="0. 0. 0."/>
      <geometry>
        <mesh filename="package://robot_description/meshes/robot_base_chapa_visuals.obj" scale="1. 1. 1."/>
      </geometry>
    </visual>
  </link>
  <link name="robot_base_docking_contact">
    <inertial>
      <origin xyz="0. 0. 0." rpy="0. 0. 0."/>
      <mass value="0.000001"/>
      <inertia ixx="0." ixy="0." ixz="0." iyy="0." iyz="0." izz="0."/>
    </inertial>
  </link>
  <link name="robot_base_logo_front">
    <inertial>
      <origin xyz="0. 0. 0." rpy="0. 0. 0."/>
      <mass value="0.000001"/>
      <inertia ixx="0." ixy="0." ixz="0." iyy="0." iyz="0." izz="0."/>
    </inertial>
    <visual>
      <origin xyz="0. 0. 0." rpy="0. 0. 0."/>
      <geometry>
        <mesh filename="package://robot_description/meshes/robot_base_logo_front_visuals.obj" scale="1. 1. 1."/>
      </geometry>
    </visual>
  </link>
  <link name="robot_base_logo_left">
    <inertial>
      <origin xyz="0. 0. 0." rpy="0. 0. 0."/>
      <mass value="0.000001"/>
      <inertia ixx="0." ixy="0." ixz="0." iyy="0." iyz="0." izz="0."/>
    </inertial>
    <visual>
      <origin xyz="0. 0. 0." rpy="0. 0. 0."/>
      <geometry>
        <mesh filename="package://robot_description/meshes/robot_base_logo_left_visuals.obj" scale="1. 1. 1."/>
      </geometry>
    </visual>
  </link>
  <link name="robot_base_logo_rear">
    <inertial>
      <origin xyz="0. 0. 0." rpy="0. 0. 0."/>
      <mass value="0.000001"/>
      <inertia ixx="0." ixy="0." ixz="0." iyy="0." iyz="0." izz="0."/>
    </inertial>
    <visual>
      <origin xyz="0. 0. 0." rpy="0. 0. 0."/>
      <geometry>
        <mesh filename="package://robot_description/meshes/robot_base_logo_rear_visuals.obj" scale="1. 1. 1."/>
      </geometry>
    </visual>
  </link>
  <link name="robot_base_logo_right">
    <inertial>
      <origin xyz="0. 0. 0." rpy="0. 0. 0."/>
      <mass value="0.000001"/>
      <inertia ixx="0." ixy="0." ixz="0." iyy="0." iyz="0." izz="0."/>
    </inertial>
    <visual>
      <origin xyz="0. 0. 0." rpy="0. 0. 0."/>
      <geometry>
        <mesh filename="package://robot_description/meshes/robot_base_logo_right_visuals.obj" scale="1. 1. 1."/>
      </geometry>
    </visual>
  </link>
  <link name="robot_front_laser_base_link">
    <inertial>
      <origin xyz="0. 0. 0." rpy="0. 0. 0."/>
      <mass value="0.000001"/>
      <inertia ixx="0." ixy="0." ixz="0." iyy="0." iyz="0." izz="0."/>
    </inertial>
    <visual>
      <origin xyz="-0.07 0. -0.01538" rpy="-3.1415927 0. 0. "/>
      <geometry>
        <box size="0.28321 0.07839 0.02964"/>
      </geometry>
    </visual>
  </link>
  <link name="robot_front_laser_body_link">
    <inertial>
      <origin xyz="0. 0. 0." rpy="0. 0. 0."/>
      <mass value="1.53"/>
      <inertia ixx="0." ixy="0." ixz="0." iyy="0." iyz="0." izz="0."/>
    </inertial>
    <visual>
      <origin xyz="0. 0. 0." rpy="0. 0. -3.1415925"/>
      <geometry>
        <mesh filename="package://robot_description/meshes/robot_front_laser_body_link_visuals.obj" scale="1. 1. 1."/>
      </geometry>
    </visual>
    <collision>
      <origin xyz="0. 0. 0." rpy="0. 0. -3.1415925"/>
      <geometry>
        <mesh filename="package://robot_description/meshes/robot_front_laser_body_link_visuals.obj" scale="1. 1. 1."/>
      </geometry>
    </collision>
  </link>
  <link name="robot_front_laser_link">
    <inertial>
      <origin xyz="0. 0. 0." rpy="0. 0. 0."/>
      <mass value="0.000001"/>
      <inertia ixx="0." ixy="0." ixz="0." iyy="0." iyz="0." izz="0."/>
    </inertial>
  </link>
  <link name="robot_front_left_pole_link">
    <inertial>
      <origin xyz="0. 0. 0." rpy="0. 0. 0."/>
      <mass value="0.000001"/>
      <inertia ixx="0." ixy="0." ixz="0." iyy="0." iyz="0." izz="0."/>
    </inertial>
    <visual>
      <origin xyz="0. 0. 0." rpy="0. 0. 0."/>
      <geometry>
        <mesh filename="package://robot_description/meshes/robot_front_left_pole_link_visuals.obj" scale="1. 1. 1."/>
      </geometry>
    </visual>
    <collision>
      <origin xyz="0. 0. 0." rpy="0. 0. 0."/>
      <geometry>
        <mesh filename="package://robot_description/meshes/robot_front_left_pole_link_visuals.obj" scale="1. 1. 1."/>
      </geometry>
    </collision>
  </link>
  <link name="robot_front_left_pole_sup_link">
    <inertial>
      <origin xyz="0. 0. 0." rpy="0. 0. 0."/>
      <mass value="0.000001"/>
      <inertia ixx="0." ixy="0." ixz="0." iyy="0." iyz="0." izz="0."/>
    </inertial>
    <visual>
      <origin xyz="0. 0. 0.03" rpy="0. 0. 0."/>
      <geometry>
        <mesh filename="package://robot_description/meshes/robot_front_left_pole_sup_link_visuals.obj" scale="1. 1. 1."/>
      </geometry>
    </visual>
    <collision>
      <origin xyz="0. 0. 0.03" rpy="0. 0. 0."/>
      <geometry>
        <mesh filename="package://robot_description/meshes/robot_front_left_pole_sup_link_visuals.obj" scale="1. 1. 1."/>
      </geometry>
    </collision>
  </link>
  <link name="robot_front_left_rgb_camera_1_link">
    <inertial>
      <origin xyz="0. 0. 0." rpy="0. 0. 0."/>
      <mass value="0.000001"/>
      <inertia ixx="0." ixy="0." ixz="0." iyy="0." iyz="0." izz="0."/>
    </inertial>
    <visual>
      <origin xyz="0. 0. 0." rpy="0. 0. 0."/>
      <geometry>
        <mesh filename="package://robot_description/meshes/robot_front_left_rgb_camera_1_link_visuals.obj" scale="1. 1. 1."/>
      </geometry>
    </visual>
    <collision>
      <origin xyz="0. 0. 0." rpy="0. 0. 0."/>
      <geometry>
        <mesh filename="package://robot_description/meshes/robot_front_left_rgb_camera_1_link_visuals.obj" scale="1. 1. 1."/>
      </geometry>
    </collision>
  </link>
  <link name="robot_front_left_rgb_camera_1_optical_frame">
    <inertial>
      <origin xyz="0. 0. 0." rpy="0. 0. 0."/>
      <mass value="0.000001"/>
      <inertia ixx="0." ixy="0." ixz="0." iyy="0." iyz="0." izz="0."/>
    </inertial>
  </link>
  <link name="robot_front_left_rgb_camera_2_link">
    <inertial>
      <origin xyz="0. 0. 0." rpy="0. 0. 0."/>
      <mass value="0.000001"/>
      <inertia ixx="0." ixy="0." ixz="0." iyy="0." iyz="0." izz="0."/>
    </inertial>
    <visual>
      <origin xyz="0. 0. 0." rpy="0. 0. 0."/>
      <geometry>
        <mesh filename="package://robot_description/meshes/robot_front_left_rgb_camera_2_link_visuals.obj" scale="1. 1. 1."/>
      </geometry>
    </visual>
    <collision>
      <origin xyz="0. 0. 0." rpy="0. 0. 0."/>
      <geometry>
        <mesh filename="package://robot_description/meshes/robot_front_left_rgb_camera_2_link_visuals.obj" scale="1. 1. 1."/>
      </geometry>
    </collision>
  </link>
  <link name="robot_front_left_rgb_camera_2_optical_frame">
    <inertial>
      <origin xyz="0. 0. 0." rpy="0. 0. 0."/>
      <mass value="0.000001"/>
      <inertia ixx="0." ixy="0." ixz="0." iyy="0." iyz="0." izz="0."/>
    </inertial>
  </link>
  <link name="robot_front_rgbd_camera_base_link">
    <inertial>
      <origin xyz="0. 0. 0." rpy="0. 0. 0."/>
      <mass value="0.000001"/>
      <inertia ixx="0." ixy="0." ixz="0." iyy="0." iyz="0." izz="0."/>
    </inertial>
  </link>
  <link name="robot_front_rgbd_camera_color_frame">
    <inertial>
      <origin xyz="0. 0. 0." rpy="0. 0. 0."/>
      <mass value="0.000001"/>
      <inertia ixx="0." ixy="0." ixz="0." iyy="0." iyz="0." izz="0."/>
    </inertial>
  </link>
  <link name="robot_front_rgbd_camera_color_optical_frame">
    <inertial>
      <origin xyz="0. 0. 0." rpy="0. 0. 0."/>
      <mass value="0.000001"/>
      <inertia ixx="0." ixy="0." ixz="0." iyy="0." iyz="0." izz="0."/>
    </inertial>
  </link>
  <link name="robot_front_rgbd_camera_depth_frame">
    <inertial>
      <origin xyz="0. 0. 0." rpy="0. 0. 0."/>
      <mass value="0.000001"/>
      <inertia ixx="0." ixy="0." ixz="0." iyy="0." iyz="0." izz="0."/>
    </inertial>
  </link>
  <link name="robot_front_rgbd_camera_depth_optical_frame">
    <inertial>
      <origin xyz="0. 0. 0." rpy="0. 0. 0."/>
      <mass value="0.000001"/>
      <inertia ixx="0." ixy="0." ixz="0." iyy="0." iyz="0." izz="0."/>
    </inertial>
  </link>
  <link name="robot_front_rgbd_camera_infra1_frame">
    <inertial>
      <origin xyz="0. 0. 0." rpy="0. 0. 0."/>
      <mass value="0.000001"/>
      <inertia ixx="0." ixy="0." ixz="0." iyy="0." iyz="0." izz="0."/>
    </inertial>
  </link>
  <link name="robot_front_rgbd_camera_infra1_optical_frame">
    <inertial>
      <origin xyz="0. 0. 0." rpy="0. 0. 0."/>
      <mass value="0.000001"/>
      <inertia ixx="0." ixy="0." ixz="0." iyy="0." iyz="0." izz="0."/>
    </inertial>
  </link>
  <link name="robot_front_rgbd_camera_infra2_frame">
    <inertial>
      <origin xyz="0. 0. 0." rpy="0. 0. 0."/>
      <mass value="0.000001"/>
      <inertia ixx="0." ixy="0." ixz="0." iyy="0." iyz="0." izz="0."/>
    </inertial>
  </link>
  <link name="robot_front_rgbd_camera_infra2_optical_frame">
    <inertial>
      <origin xyz="0. 0. 0." rpy="0. 0. 0."/>
      <mass value="0.000001"/>
      <inertia ixx="0." ixy="0." ixz="0." iyy="0." iyz="0." izz="0."/>
    </inertial>
  </link>
  <link name="robot_front_rgbd_camera_link">
    <inertial>
      <origin xyz="0. 0. 0." rpy="0. 0. 0."/>
      <mass value="0.1"/>
      <inertia ixx="0." ixy="0." ixz="0." iyy="0." iyz="0." izz="0."/>
    </inertial>
    <visual>
      <origin xyz="0.0149 -0.0175 0. " rpy="1.5707964 -0. 1.5707964"/>
      <geometry>
        <mesh filename="package://robot_description/meshes/robot_front_rgbd_camera_link_visuals.obj" scale="1. 1. 1."/>
      </geometry>
    </visual>
  </link>
  <link name="robot_front_right_pole_link">
    <inertial>
      <origin xyz="0. 0. 0." rpy="0. 0. 0."/>
      <mass value="0.000001"/>
      <inertia ixx="0." ixy="0." ixz="0." iyy="0." iyz="0." izz="0."/>
    </inertial>
    <visual>
      <origin xyz="0. 0. 0." rpy="0. 0. 0."/>
      <geometry>
        <mesh filename="package://robot_description/meshes/robot_front_right_pole_link_visuals.obj" scale="1. 1. 1."/>
      </geometry>
    </visual>
    <collision>
      <origin xyz="0. 0. 0." rpy="0. 0. 0."/>
      <geometry>
        <mesh filename="package://robot_description/meshes/robot_front_right_pole_link_visuals.obj" scale="1. 1. 1."/>
      </geometry>
    </collision>
  </link>
  <link name="robot_front_right_pole_sup_link">
    <inertial>
      <origin xyz="0. 0. 0." rpy="0. 0. 0."/>
      <mass value="0.000001"/>
      <inertia ixx="0." ixy="0." ixz="0." iyy="0." iyz="0." izz="0."/>
    </inertial>
    <visual>
      <origin xyz="0. 0. 0." rpy="0. 0. 0."/>
      <geometry>
        <mesh filename="package://robot_description/meshes/robot_front_right_pole_sup_link_visuals.obj" scale="1. 1. 1."/>
      </geometry>
    </visual>
    <collision>
      <origin xyz="0. 0. 0." rpy="0. 0. 0."/>
      <geometry>
        <mesh filename="package://robot_description/meshes/robot_front_right_pole_sup_link_visuals.obj" scale="1. 1. 1."/>
      </geometry>
    </collision>
  </link>
  <link name="robot_imu_link">
    <inertial>
      <origin xyz="0. 0. 0." rpy="0. 0. 0."/>
      <mass value="0.05"/>
      <inertia ixx="0." ixy="0." ixz="0." iyy="0." iyz="0." izz="0."/>
    </inertial>
    <visual>
      <origin xyz="0. 0. 0." rpy="0. 0. 0."/>
      <geometry>
        <box size="0.001 0.001 0.001"/>
      </geometry>
    </visual>
  </link>
  <link name="robot_pantilt_base_link">
    <inertial>
      <origin xyz="0. 0. 0." rpy="0. 0. 0."/>
      <mass value="0.005"/>
      <inertia ixx="0." ixy="0." ixz="0." iyy="0." iyz="0." izz="0."/>
    </inertial>
    <visual>
      <origin xyz="0. 0. 0." rpy="0. 0. 0."/>
      <geometry>
        <box size="0.01 0.01 0.01"/>
      </geometry>
    </visual>
  </link>
  <link name="robot_pantilt_pan_link">
    <inertial>
      <origin xyz="0. 0. 0." rpy="0. 0. 0."/>
      <mass value="1."/>
      <inertia ixx="0." ixy="0." ixz="0." iyy="0." iyz="0." izz="0."/>
    </inertial>
    <visual>
      <origin xyz="0. 0. 0." rpy="0. 0. 0."/>
      <geometry>
        <mesh filename="package://robot_description/meshes/robot_pantilt_pan_link_visuals.obj" scale="1. 1. 1."/>
      </geometry>
    </visual>
    <collision>
      <origin xyz="0. 0. 0." rpy="0. 0. 0."/>
      <geometry>
        <mesh filename="package://robot_description/meshes/robot_pantilt_pan_link_visuals.obj" scale="1. 1. 1."/>
      </geometry>
    </collision>
  </link>
  <link name="robot_pantilt_tilt_link">
    <inertial>
      <origin xyz="0. 0. 0." rpy="0. 0. 0."/>
      <mass value="1."/>
      <inertia ixx="0." ixy="0." ixz="0." iyy="0." iyz="0." izz="0."/>
    </inertial>
    <visual>
      <origin xyz="0. 0. 0." rpy="0. 0. 0."/>
      <geometry>
        <mesh filename="package://robot_description/meshes/robot_pantilt_tilt_link_visuals.obj" scale="1. 1. 1."/>
      </geometry>
    </visual>
  </link>
  <link name="robot_rear_laser_base_link">
    <inertial>
      <origin xyz="0. 0. 0." rpy="0. 0. 0."/>
      <mass value="0.000001"/>
      <inertia ixx="0." ixy="0." ixz="0." iyy="0." iyz="0." izz="0."/>
    </inertial>
    <visual>
      <origin xyz="-0.07 0. -0.01538" rpy="3.1415927 0. 0. "/>
      <geometry>
        <box size="0.28321 0.07839 0.02964"/>
      </geometry>
    </visual>
  </link>
  <link name="robot_rear_laser_body_link">
    <inertial>
      <origin xyz="0. 0. 0." rpy="0. 0. 0."/>
      <mass value="1.53"/>
      <inertia ixx="0." ixy="0." ixz="0." iyy="0." iyz="0." izz="0."/>
    </inertial>
    <visual>
      <origin xyz="0. 0. 0." rpy="0. 0. -3.1415925"/>
      <geometry>
        <mesh filename="package://robot_description/meshes/robot_rear_laser_body_link_visuals.obj" scale="1. 1. 1."/>
      </geometry>
    </visual>
    <collision>
      <origin xyz="0. 0. 0." rpy="0. 0. -3.1415925"/>
      <geometry>
        <mesh filename="package://robot_description/meshes/robot_rear_laser_body_link_visuals.obj" scale="1. 1. 1."/>
      </geometry>
    </collision>
  </link>
  <link name="robot_rear_laser_link">
    <inertial>
      <origin xyz="0. 0. 0." rpy="0. 0. 0."/>
      <mass value="0.000001"/>
      <inertia ixx="0." ixy="0." ixz="0." iyy="0." iyz="0." izz="0."/>
    </inertial>
  </link>
  <link name="robot_top_right_rgbd_camera_1_camera_body">
    <inertial>
      <origin xyz="0. 0. 0." rpy="0. 0. 0."/>
      <mass value="0.000001"/>
      <inertia ixx="0." ixy="0." ixz="0." iyy="0." iyz="0." izz="0."/>
    </inertial>
    <visual>
      <origin xyz="0. 0. 0." rpy="0. 0. 0."/>
      <geometry>
        <box size="0.0994 0.0996 0.023 "/>
      </geometry>
    </visual>
  </link>
  <link name="robot_top_right_rgbd_camera_1_camera_visor">
    <inertial>
      <origin xyz="0. 0. 0." rpy="0. 0. 0."/>
      <mass value="0.000001"/>
      <inertia ixx="0." ixy="0." ixz="0." iyy="0." iyz="0." izz="0."/>
    </inertial>
    <visual>
      <origin xyz="-0.0128 0. 0. " rpy="0. 0. 0."/>
      <geometry>
        <box size="0.026 0.101 0.037"/>
      </geometry>
    </visual>
  </link>
  <link name="robot_top_right_rgbd_camera_1_link">
    <inertial>
      <origin xyz="0. 0. 0." rpy="0. 0. 0."/>
      <mass value="0.000001"/>
      <inertia ixx="0." ixy="0." ixz="0." iyy="0." iyz="0." izz="0."/>
    </inertial>
    <visual>
      <origin xyz="-0.013 0. 0. " rpy="0. 0. 0."/>
      <geometry>
        <box size="0.026 0.103 0.039"/>
      </geometry>
    </visual>
  </link>
  <link name="robot_top_right_rgbd_camera_2_camera_body">
    <inertial>
      <origin xyz="0. 0. 0." rpy="0. 0. 0."/>
      <mass value="0.000001"/>
      <inertia ixx="0." ixy="0." ixz="0." iyy="0." iyz="0." izz="0."/>
    </inertial>
    <visual>
      <origin xyz="0. 0. 0." rpy="0. 0. 0."/>
      <geometry>
        <box size="0.0994 0.0996 0.023 "/>
      </geometry>
    </visual>
  </link>
  <link name="robot_top_right_rgbd_camera_2_camera_visor">
    <inertial>
      <origin xyz="0. 0. 0." rpy="0. 0. 0."/>
      <mass value="0.000001"/>
      <inertia ixx="0." ixy="0." ixz="0." iyy="0." iyz="0." izz="0."/>
    </inertial>
    <visual>
      <origin xyz="-0.0128 0. 0. " rpy="0. 0. 0."/>
      <geometry>
        <box size="0.026 0.101 0.037"/>
      </geometry>
    </visual>
  </link>
  <link name="robot_top_right_rgbd_camera_2_link">
    <inertial>
      <origin xyz="0. 0. 0." rpy="0. 0. 0."/>
      <mass value="0.000001"/>
      <inertia ixx="0." ixy="0." ixz="0." iyy="0." iyz="0." izz="0."/>
    </inertial>
    <visual>
      <origin xyz="-0.013 0. 0. " rpy="0. 0. 0."/>
      <geometry>
        <box size="0.026 0.103 0.039"/>
      </geometry>
    </visual>
  </link>
  <link name="summit_xl_back_left_wheel_link">
    <inertial>
      <origin xyz="0. 0. 0." rpy="0. 0. 0."/>
      <mass value="6.5"/>
      <inertia ixx="0." ixy="0." ixz="0." iyy="0." iyz="0." izz="0."/>
    </inertial>
    <visual>
      <origin xyz="0. 0. 0." rpy="0. 0. 0."/>
      <geometry>
        <mesh filename="package://robot_description/meshes/summit_xl_back_left_wheel_link_visuals.obj" scale="1. 1. 1."/>
      </geometry>
    </visual>
    <visual>
      <origin xyz="0. 0. 0." rpy="1.5707964 0. 0. "/>
      <geometry>
        <cylinder radius="0.115" length="0.06"/>
      </geometry>
    </visual>
    <collision>
      <origin xyz="0. 0. 0." rpy="1.5707964 0. 0. "/>
      <geometry>
        <cylinder radius="0.115" length="0.06"/>
      </geometry>
    </collision>
  </link>
  <link name="summit_xl_back_right_wheel_link">
    <inertial>
      <origin xyz="0. 0. 0." rpy="0. 0. 0."/>
      <mass value="6.5"/>
      <inertia ixx="0." ixy="0." ixz="0." iyy="0." iyz="0." izz="0."/>
    </inertial>
    <visual>
      <origin xyz="0. 0. 0." rpy="0. 0. 0."/>
      <geometry>
        <mesh filename="package://robot_description/meshes/summit_xl_back_right_wheel_link_visuals.obj" scale="1. 1. 1."/>
      </geometry>
    </visual>
    <visual>
      <origin xyz="0. 0. 0." rpy="1.5707964 0. 0. "/>
      <geometry>
        <cylinder radius="0.115" length="0.06"/>
      </geometry>
    </visual>
    <collision>
      <origin xyz="0. 0. 0." rpy="1.5707964 0. 0. "/>
      <geometry>
        <cylinder radius="0.115" length="0.06"/>
      </geometry>
    </collision>
  </link>
  <link name="summit_xl_front_left_wheel_link">
    <inertial>
      <origin xyz="0. 0. 0." rpy="0. 0. 0."/>
      <mass value="6.5"/>
      <inertia ixx="0." ixy="0." ixz="0." iyy="0." iyz="0." izz="0."/>
    </inertial>
    <visual>
      <origin xyz="0. 0. 0." rpy="0. 0. 0."/>
      <geometry>
        <mesh filename="package://robot_description/meshes/summit_xl_front_left_wheel_link_visuals.obj" scale="1. 1. 1."/>
      </geometry>
    </visual>
    <visual>
      <origin xyz="0. 0. 0." rpy="1.5707964 0. 0. "/>
      <geometry>
        <cylinder radius="0.115" length="0.06"/>
      </geometry>
    </visual>
    <collision>
      <origin xyz="0. 0. 0." rpy="1.5707964 0. 0. "/>
      <geometry>
        <cylinder radius="0.115" length="0.06"/>
      </geometry>
    </collision>
  </link>
  <link name="summit_xl_front_right_wheel_link">
    <inertial>
      <origin xyz="0. 0. 0." rpy="0. 0. 0."/>
      <mass value="6.5"/>
      <inertia ixx="0." ixy="0." ixz="0." iyy="0." iyz="0." izz="0."/>
    </inertial>
    <visual>
      <origin xyz="0. 0. 0." rpy="0. 0. 0."/>
      <geometry>
        <mesh filename="package://robot_description/meshes/summit_xl_front_right_wheel_link_visuals.obj" scale="1. 1. 1."/>
      </geometry>
    </visual>
    <visual>
      <origin xyz="0. 0. 0." rpy="1.5707964 0. 0. "/>
      <geometry>
        <cylinder radius="0.115" length="0.06"/>
      </geometry>
    </visual>
    <collision>
      <origin xyz="0. 0. 0." rpy="1.5707964 0. 0. "/>
      <geometry>
        <cylinder radius="0.115" length="0.06"/>
      </geometry>
    </collision>
  </link>
</robot>
